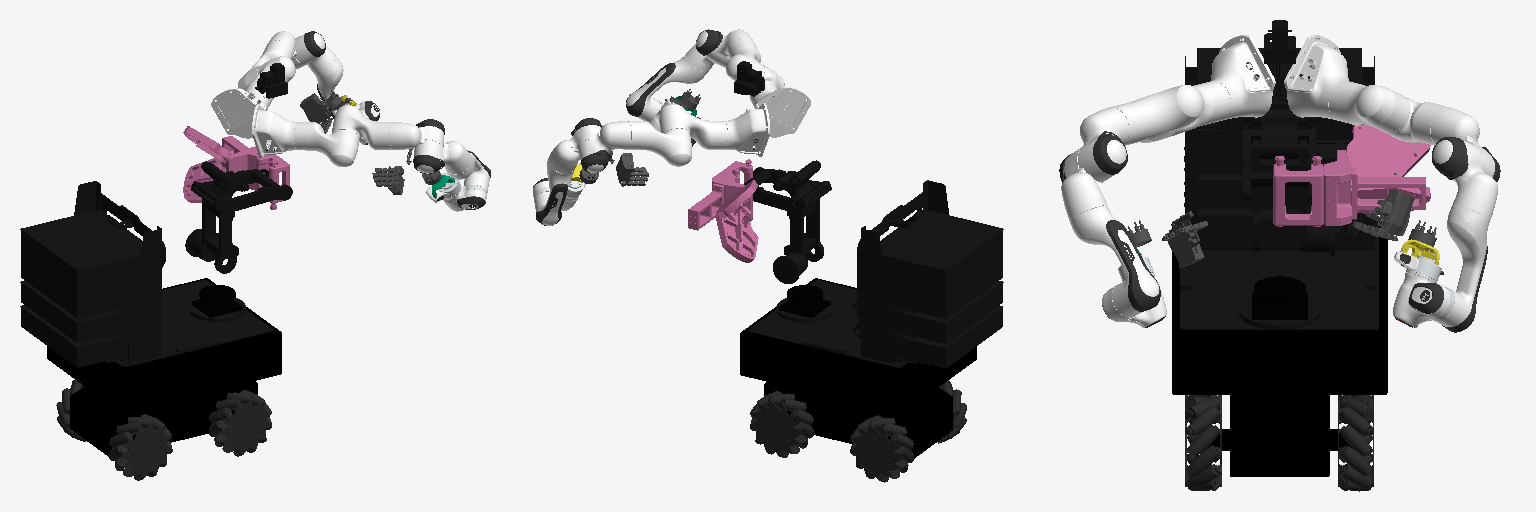
--- What the picture shows (computed from the rendered views, not written in the file) ---
Views: 3 orthographic renders of the robot side by side, from view 1: azimuth 30°, elevation 25°; view 2: azimuth 150°, elevation 25°; view 3: azimuth 270°, elevation 25°.
Model curi with 112 links and 111 joints (80 revolute, 31 fixed), rooted at world, posed all joints at 0 but 2 set to mid-range because 0 is outside their limits (panda_left_joint4 = -1.57, panda_right_joint4 = -1.57).
Visible links, largest first — view 1: control_box, summit_xls_base_link, torso_end, summit_xls_back_right_wheel_link, summit_xls_front_right_wheel_link, torso_link_b2, torso_link_c1, panda_right_link1, panda_left_link0, panda_right_link0, panda_right_link4, panda_right_link2 (+11 smaller); view 2: control_box, summit_xls_base_link, torso_end, summit_xls_back_left_wheel_link, summit_xls_front_left_wheel_link, torso_link_b2, panda_right_link5, panda_left_link2, panda_right_link0, panda_left_link1, panda_left_link0, panda_left_link3 (+8 smaller); view 3: control_box, summit_xls_base_link, torso_end, panda_right_link5, panda_right_link0, panda_left_link0, panda_left_link5, summit_xls_front_right_wheel_link, panda_right_link2, panda_left_link4, summit_xls_front_left_wheel_link, panda_left_link1 (+15 smaller).
Boxes of the visible links, left/top/right/bottom form: control_box: left=20, top=181, right=272, bottom=367; summit_xls_base_link: left=47, top=278, right=281, bottom=456; torso_end: left=183, top=126, right=289, bottom=209; summit_xls_back_right_wheel_link: left=109, top=414, right=172, bottom=480; summit_xls_front_right_wheel_link: left=209, top=390, right=271, bottom=456; torso_link_b2: left=185, top=184, right=238, bottom=273; torso_link_c1: left=191, top=169, right=292, bottom=213; panda_right_link1: left=294, top=122, right=359, bottom=166; panda_left_link0: left=211, top=88, right=267, bottom=138; panda_right_link0: left=252, top=104, right=296, bottom=157; panda_right_link4: left=413, top=140, right=470, bottom=173; panda_right_link2: left=332, top=105, right=392, bottom=149; control_box: left=749, top=180, right=1003, bottom=368; summit_xls_base_link: left=740, top=278, right=976, bottom=458; torso_end: left=688, top=159, right=758, bottom=262; summit_xls_back_left_wheel_link: left=850, top=415, right=913, bottom=482; summit_xls_front_left_wheel_link: left=750, top=391, right=813, bottom=457; torso_link_b2: left=773, top=183, right=823, bottom=283; panda_right_link5: left=626, top=54, right=706, bottom=121; panda_left_link2: left=628, top=121, right=691, bottom=166; panda_right_link0: left=754, top=87, right=810, bottom=137; panda_left_link1: left=659, top=104, right=727, bottom=149; panda_left_link0: left=724, top=103, right=769, bottom=156; panda_left_link3: left=578, top=121, right=630, bottom=172; control_box: left=1180, top=48, right=1378, bottom=329; summit_xls_base_link: left=1172, top=221, right=1387, bottom=476; torso_end: left=1273, top=125, right=1430, bottom=226; panda_right_link5: left=1069, top=205, right=1160, bottom=316; panda_right_link0: left=1211, top=35, right=1275, bottom=119; panda_left_link0: left=1284, top=35, right=1348, bottom=119; panda_left_link5: left=1435, top=205, right=1489, bottom=332; summit_xls_front_right_wheel_link: left=1185, top=397, right=1221, bottom=490; panda_right_link2: left=1113, top=85, right=1203, bottom=145; panda_left_link4: left=1432, top=137, right=1497, bottom=219; summit_xls_front_left_wheel_link: left=1338, top=397, right=1373, bottom=491; panda_left_link1: left=1329, top=81, right=1409, bottom=132.
Bounding box of the posed robot: 1.76 × 1.18 × 1.51 m (x, y, z).
73 mesh visuals loaded from 32 distinct referenced files (9 binary STL, 20 Collada DAE); not drawn: 3 (reference not matched to a file when rendering).

robot.urdf — curi:
<?xml version="1.0" ?>
<!-- =================================================================================== -->
<!-- |    This document was autogenerated by xacro from ../robots/curi.urdf.xacro      | -->
<!-- |    EDITING THIS FILE BY HAND IS NOT RECOMMENDED                                 | -->
<!-- =================================================================================== -->
<robot name="curi">
  <!-- in kg-->
  <!-- =============================================================== -->
  <!-- || This file does not contain official inertial properties   || -->
  <!-- || of panda robot. The values are from the identification    || -->
  <!-- || results published in: Identification of the Franka Emika  || -->
  <!-- || PandaRobot With Retrieval of Feasible Parameters Using    || -->
  <!-- || Penalty-Based Optimization                                || -->
  <!-- || by: Claudio Gaz, Marco Cognetti, Alexander Oliva,         || -->
  <!-- || Paolo Robuffo Giordano, Alessandro de Luca                || -->
  <!-- =============================================================== -->
  <link name="world"/>
  <material name="qbhand/optional">
  <color rgba="0.0 0.5 0.8 1.0"/>
  </material>
  <material name="qbhand/base">
    <color rgba="0.35 0.35 0.35 1.0"/>
  </material>
  <material name="qbhand/palm">
    <color rgba="0.35 0.35 0.35 1.0"/>
  </material>
  <material name="qbhand/knuckle">
    <color rgba="0.35 0.35 0.35 1.0"/>
  </material>
  <material name="qbhand/proximal">
    <color rgba="0.35 0.35 0.35 1.0"/>
  </material>
  <material name="qbhand/middle">
    <color rgba="0.35 0.35 0.35 1.0"/>
  </material>
  <material name="qbhand/distal">
    <color rgba="0.35 0.35 0.35 1.0"/>
  </material>
  <material name="qbhand/default">
    <color rgba="0.35 0.35 0.35 1.0"/>
  </material>
  <joint name="reference" type="fixed">
    <parent link="world"/>
    <child link="summit_xls_base_footprint"/>
  </joint>
  <link name="summit_xls_base_footprint">
    <visual>
      <origin rpy="0 0 0" xyz="0 0 0"/>
      <geometry>
        <box size="0.001 0.001 0.001"/>
      </geometry>
    </visual>
  </link>
  <joint name="summit_xls_base_footprint_joint" type="fixed">
    <origin rpy="0 0 0" xyz="0 0 0.127"/>
    <parent link="summit_xls_base_footprint"/>
    <child link="summit_xls_base_link"/>
  </joint>
  <!-- BASE_LINK -->
  <link name="summit_xls_base_link">
    <inertial>
      <mass value="125.0"/>
      <origin xyz="0 0 0"/>
      <inertia ixx="1.391" ixy="0.004" ixz="0.0" iyy="6.853" iyz="0.0" izz="6.125"/>
    </inertial>
    <visual>
      <origin rpy="0 0 0" xyz="0 0 0"/>
      <geometry>
        <mesh filename="../meshes/robotnik/bases/summit_xls_chassis.dae"/>
      </geometry>
      <material name="black">
        <color rgba="0.0 0.0 0.0 1"/>
      </material>
    </visual>
    <collision>
      <origin rpy="0 0 0 " xyz="0 0 0"/>
      <geometry>
        <mesh filename="../meshes/robotnik/bases/summit_xls_chassis.stl"/>
      </geometry>
    </collision>
  </link>
  <joint name="summit_xls_front_right_wheel_joint" type="fixed">
    <parent link="summit_xls_base_link"/>
    <child link="summit_xls_front_right_wheel_link"/>
    <origin rpy="0 0 0" xyz="0.2225 -0.2045 0.0"/>
    <axis rpy="0 0 0" xyz="0 1 0"/>
    <limit effort="100" velocity="100"/>
    <joint_properties damping="0.0" friction="0.0"/>
  </joint>
  <link name="summit_xls_front_right_wheel_link">
    <visual>
      <origin rpy="0 0 0" xyz="0 0 0"/>
      <geometry>
        <mesh filename="../meshes/robotnik/wheels/omni_wheel_2.dae"/>
      </geometry>
      <material name="darkgrey">
        <color rgba="0.2 0.2 0.2 1"/>
      </material>
    </visual>
    <collision>
      <origin rpy="1.5707963267948966 0 0" xyz="0 0 0"/>
      <geometry>
        <cylinder length="0.087" radius="0.127"/>
      </geometry>
    </collision>
    <inertial>
      <mass value="6.5"/>
      <origin xyz="0 0 0"/>
      <inertia ixx="0.0303095" ixy="0" ixz="0" iyy="0.05241925" iyz="0" izz="0.0303095"/>
    </inertial>
  </link>
  <joint name="summit_xls_front_left_wheel_joint" type="fixed">
    <parent link="summit_xls_base_link"/>
    <child link="summit_xls_front_left_wheel_link"/>
    <origin rpy="0 0 0" xyz="0.2225 0.2045 0.0"/>
    <axis rpy="0 0 0" xyz="0 1 0"/>
    <limit effort="100" velocity="100"/>
    <joint_properties damping="0.0" friction="0.0"/>
  </joint>
  <link name="summit_xls_front_left_wheel_link">
    <visual>
      <origin rpy="0 0 0" xyz="0 0 0"/>
      <geometry>
        <mesh filename="../meshes/robotnik/wheels/omni_wheel_1.dae"/>
      </geometry>
      <material name="darkgrey">
        <color rgba="0.2 0.2 0.2 1"/>
      </material>
    </visual>
    <collision>
      <origin rpy="1.5707963267948966 0 0" xyz="0 0 0"/>
      <geometry>
        <cylinder length="0.087" radius="0.127"/>
      </geometry>
    </collision>
    <inertial>
      <mass value="6.5"/>
      <origin xyz="0 0 0"/>
      <inertia ixx="0.0303095" ixy="0" ixz="0" iyy="0.05241925" iyz="0" izz="0.0303095"/>
    </inertial>
  </link>
  <joint name="summit_xls_back_left_wheel_joint" type="fixed">
    <parent link="summit_xls_base_link"/>
    <child link="summit_xls_back_left_wheel_link"/>
    <origin rpy="0 0 0" xyz="-0.2225 0.2045 0.0"/>
    <axis rpy="0 0 0" xyz="0 1 0"/>
    <limit effort="100" velocity="100"/>
    <joint_properties damping="0.0" friction="0.0"/>
  </joint>
  <link name="summit_xls_back_left_wheel_link">
    <visual>
      <origin rpy="0 0 0" xyz="0 0 0"/>
      <geometry>
        <mesh filename="../meshes/robotnik/wheels/omni_wheel_1.dae"/>
      </geometry>
      <material name="darkgrey">
        <color rgba="0.2 0.2 0.2 1"/>
      </material>
    </visual>
    <collision>
      <origin rpy="1.5707963267948966 0 0" xyz="0 0 0"/>
      <geometry>
        <cylinder length="0.087" radius="0.127"/>
      </geometry>
    </collision>
    <inertial>
      <mass value="6.5"/>
      <origin xyz="0 0 0"/>
      <inertia ixx="0.0303095" ixy="0" ixz="0" iyy="0.05241925" iyz="0" izz="0.0303095"/>
    </inertial>
  </link>
  <joint name="summit_xls_back_right_wheel_joint" type="fixed">
    <parent link="summit_xls_base_link"/>
    <child link="summit_xls_back_right_wheel_link"/>
    <origin rpy="0 0 0" xyz="-0.2225 -0.2045 0.0"/>
    <axis rpy="0 0 0" xyz="0 1 0"/>
    <limit effort="100" velocity="100"/>
    <joint_properties damping="0.0" friction="0.0"/>
  </joint>
  <link name="summit_xls_back_right_wheel_link">
    <visual>
      <origin rpy="0 0 0" xyz="0 0 0"/>
      <geometry>
        <mesh filename="../meshes/robotnik/wheels/omni_wheel_2.dae"/>
      </geometry>
      <material name="darkgrey">
        <color rgba="0.2 0.2 0.2 1"/>
      </material>
    </visual>
    <collision>
      <origin rpy="1.5707963267948966 0 0" xyz="0 0 0"/>
      <geometry>
        <cylinder length="0.087" radius="0.127"/>
      </geometry>
    </collision>
    <inertial>
      <mass value="6.5"/>
      <origin xyz="0 0 0"/>
      <inertia ixx="0.0303095" ixy="0" ixz="0" iyy="0.05241925" iyz="0" izz="0.0303095"/>
    </inertial>
  </link>
  <joint name="torso_joint_summit_xls_base_footprint" type="fixed">
    <parent link="summit_xls_base_footprint"/>
    <child link="control_box"/>
    <origin rpy="0 0 0" xyz="0 0 0.52262"/>
  </joint>
  <link name="control_box">
    <visual>
      <origin rpy="0 0 0" xyz="0 0 0"/>
      <geometry>
        <mesh filename="../meshes/clover/visual/control_box.dae"/>
      </geometry>
    </visual>
    <inertial>
      <!-- Estimated guesses from CAD -->
      <origin rpy="0 0 0" xyz="-0.221652 1.4173e-02 0.165597"/>
      <mass value="37.813"/>
      <inertia ixx="1.672305973" ixy="-0.023504956" ixz="-0.565170381" iyy="2.616747309" iyz="0.046623093" izz="2.524344244"/>
    </inertial>
  </link>
  <link name="torso_base1">
    <visual>
      <origin rpy="0 0 0" xyz="0 0 0"/>
      <geometry>
        <mesh filename="../meshes/clover/visual/torso_base1.dae"/>
      </geometry>
    </visual>
    <collision>
      <origin rpy="0 0 0" xyz="0 0 0"/>
      <geometry>
        <mesh filename="../meshes/clover/collision/torso_base1.stl"/>
      </geometry>
    </collision>
    <inertial>
      <origin rpy="0 0 0" xyz="0 0 0.02555"/>
      <mass value="1.18"/>
      <inertia ixx="0.00241116" ixy="0" ixz="0" iyy="0.00241116" iyz="0" izz="0.00362611"/>
    </inertial>
  </link>
  <joint name="torso_joint1" type="fixed">
    <origin rpy="0 0 0" xyz="0.2375 0 0.015"/>
    <parent link="control_box"/>
    <child link="torso_base1"/>
  </joint>
  <link name="torso_base2">
    <visual>
      <origin rpy="0 0 0" xyz="0 0 0"/>
      <geometry>
        <mesh filename="../meshes/clover/visual/torso_base2.dae"/>
      </geometry>
    </visual>
    <collision>
      <origin rpy="0 0 0" xyz="0 0 0"/>
      <geometry>
        <mesh filename="../meshes/clover/collision/torso_base2.stl"/>
      </geometry>
    </collision>
    <inertial>
      <origin rpy="0 0 0" xyz="-0.05478 0.03332 -0.07616"/>
      <mass value="35.66"/>
      <inertia ixx="0.87275935" ixy="-0.06173772" ixz="0.01895727" iyy="0.57302356" iyz="0.11888755" izz="1.06212354"/>
    </inertial>
  </link>
  <joint name="torso_actuated_joint1" type="fixed">
    <safety_controller k_position="100.0" k_velocity="40.0" soft_lower_limit="-1.5" soft_upper_limit="1.5"/>
    <origin rpy="0 0 0" xyz="0 0 0.215"/>
    <parent link="torso_base1"/>
    <child link="torso_base2"/>
    <axis xyz="0 0 1"/>
    <limit acceleration="0.6" effort="300" lower="-1.57" upper="1.57" velocity="0.3"/>
    <dynamics D="1" K="7000" damping="0.003" friction="0.0" mu_coulomb="0" mu_viscous="16"/>
  </joint>
  <link name="torso_link_b2">
    <visual>
      <origin rpy="0 0 0" xyz="0 0 0"/>
      <geometry>
        <mesh filename="../meshes/clover/visual/torso_link_b2.dae"/>
      </geometry>
    </visual>
    <collision>
      <origin rpy="0 0 0" xyz="0 0 0"/>
      <geometry>
        <mesh filename="../meshes/clover/collision/torso_link_b2.stl"/>
      </geometry>
    </collision>
    <inertial>
      <origin rpy="0 0 0" xyz="2.066e-03 2.4036e-02 8.3361e-02"/>
      <mass value="2.698"/>
      <inertia ixx="0.035907338" ixy="-0.000134319" ixz="0.000037769" iyy="0.023944853" iyz="-0.005304362" izz="0.014484777"/>
    </inertial>
  </link>
  <joint name="torso_actuated_joint2" type="fixed">
    <origin rpy="0 0 0" xyz="0 0 0"/>
    <parent link="torso_base2"/>
    <child link="torso_link_b2"/>
    <axis xyz="0 1 0"/>
    <limit acceleration="0.6" effort="300" lower="-1.2" upper="0.5" velocity="0.3"/>
    <dynamics D="1" K="7000" damping="0.003" friction="0.0" mu_coulomb="0" mu_viscous="16"/>
  </joint>
  <link name="torso_middle">
    <visual>
      <origin rpy="0 0 0" xyz="0 0 0"/>
      <geometry>
        <mesh filename="../meshes/clover/visual/torso_middle.dae"/>
      </geometry>
    </visual>
    <collision>
      <origin rpy="0 0 0" xyz="0 0 0"/>
      <geometry>
        <mesh filename="../meshes/clover/collision/torso_middle.stl"/>
      </geometry>
    </collision>
    <inertial>
      <origin rpy="0 0 0" xyz="3.2089e-02 0 4.789e-02"/>
      <mass value="2.688"/>
      <inertia ixx="0.00744652" ixy="-0.00003495" ixz="0.000230038" iyy="0.006884728" iyz="0.000041279" izz="0.008084049"/>
    </inertial>
  </link>
  <joint name="torso_joint5" type="fixed">
    <origin rpy="0 0 0" xyz="0 0 0.25"/>
    <parent link="torso_link_b2"/>
    <child link="torso_middle"/>
    <axis xyz="0 1 0"/>
    <limit acceleration="0.6" effort="300" lower="-0.5" upper="1.2" velocity="0.3"/>
    <dynamics D="1" K="7000" damping="0.003" friction="0.0" mu_coulomb="0" mu_viscous="16"/>
    <mimic joint="torso_actuated_joint2" multiplier="-1"/>
  </joint>
  <link name="torso_link_c1">
    <visual>
      <origin rpy="0 0 0" xyz="0 0 0"/>
      <geometry>
        <mesh filename="../meshes/clover/visual/torso_link_c1.dae"/>
      </geometry>
    </visual>
    <collision>
      <origin rpy="0 0 0" xyz="0 0 0"/>
      <geometry>
        <mesh filename="../meshes/clover/collision/torso_link_c1.stl"/>
      </geometry>
    </collision>
    <inertial>
      <origin rpy="0 0 0" xyz="0.10533 1.503e-03 9.863e-03"/>
      <mass value="2.4"/>
      <inertia ixx="0.014986407" ixy="-1.7102e-05" ixz="-4.53321e-04" iyy="0.027549549" iyz="-3.557e-05" izz="0.041344611"/>
    </inertial>
  </link>
  <joint name="torso_actuated_joint3" type="fixed">
    <origin rpy="0 0 0" xyz="0 0 0"/>
    <parent link="torso_middle"/>
    <child link="torso_link_c1"/>
  </joint>
  <link name="shell">
    <visual>
      <origin rpy="0 0 0" xyz="0 0 0"/>
      <geometry>
        <mesh filename="../meshes/clover/visual/Shell_v2_Share_yup.dae"/>
      </geometry>
    <material name="shell">
        <color rgba="1 1 1. 1.0"/>
      </material>
    </visual>
    <collision>
      <origin rpy="0 0 0" xyz="0 0 0"/>
      <geometry>
        <mesh filename="../meshes/clover/collision/Shell_v2_Share_zup.STL"/>
      </geometry>
    </collision>
    <inertial>
      <origin rpy="0 0 0" xyz="0.120384 0.569e-03 6.703e-03"/>
      <mass value="1.63531"/>
      <inertia ixx="0.010693997" ixy="5.645e-06" ixz="-9.4779e-04" iyy="0.026717753" iyz="-8.196e-06" izz="0.036543169"/>
    </inertial>
  </link>
  <joint name="shell_torso_end" type="fixed">
    <parent link="torso_end"/>
    <child link="shell"/>
    <origin rpy="0 0 0" xyz="0 0 0"/>
  </joint>
  <link name="torso_end">
    <visual>
      <origin rpy="0 0 0" xyz="0 0 0"/>
      <geometry>
        <mesh filename="../meshes/clover/visual/torso_end_v2_yup.dae"/>
      </geometry>
    </visual>
    <collision>
      <origin rpy="0 0 0" xyz="0 0 0"/>
      <geometry>
        <mesh filename="../meshes/clover/collision/torso_end_v2.stl"/>
      </geometry>
    </collision>
    <inertial>
      <origin rpy="0 0 0" xyz="-5.05e-03 -0.09e-03 0.27614"/>
      <mass value="1.63531"/>
      <inertia ixx="0.010693997" ixy="5.645e-06" ixz="-9.4779e-04" iyy="0.026717753" iyz="-8.196e-06" izz="0.036543169"/>
    </inertial>
  </link>
  <joint name="torso_joint8" type="fixed">
    <origin rpy="0 0 0" xyz="0.25 0 0"/>
    <parent link="torso_link_c1"/>
    <child link="torso_end"/>
  </joint>
  <joint name="head_joint_torso_end" type="fixed">
    <parent link="torso_end"/>
    <child link="head_base"/>
    <origin rpy="0 0 0" xyz="0.02 0 0.3929"/>
  </joint>
  <link name="head_base">
    <visual>
      <origin rpy="0 0 0" xyz="0 0 0"/>
      <geometry>
        <mesh filename="../meshes/clover/visual/head_base.dae"/>
      </geometry>
    </visual>
    <collision>
      <origin rpy="0 0 0" xyz="0 0 0"/>
      <geometry>
        <mesh filename="../meshes/clover/collision/head_base.stl"/>
      </geometry>
    </collision>
    <inertial>
      <!-- Estimated guesses from CAD -->
      <origin rpy="0 0 0" xyz="-1.9726e-02 1.281e-03 2.2693e-02"/>
      <mass value="0.803"/>
      <inertia ixx="6.56432e-04" ixy="-3.4976e-05" ixz="0.652e-6" iyy="6.42664e-04" iyz="-1.577e-06" izz="1.046862e-03"/>
    </inertial>
  </link>
  <joint name="head_actuated_joint1" type="fixed">
    <safety_controller k_position="100.0" k_velocity="40.0" soft_lower_limit="-1.5" soft_upper_limit="1.5"/>
    <origin rpy="0 0 0" xyz="0 0 0.045"/>
    <parent link="head_base"/>
    <child link="head_link1"/>
    <axis xyz="0 0 1"/>
    <limit effort="30" lower="-1.57" upper="1.57" velocity="1.0"/>
    <dynamics D="1" K="7000" damping="0.003" friction="0.0" mu_coulomb="0" mu_viscous="16"/>
  </joint>
  <link name="head_link1">
    <visual>
      <origin rpy="0 0 0" xyz="0 0 0"/>
      <geometry>
        <mesh filename="../meshes/clover/visual/head_link1.dae"/>
      </geometry>
    </visual>
    <collision>
      <origin rpy="0 0 0" xyz="0 0 0"/>
      <geometry>
        <mesh filename="../meshes/clover/collision/head_link1.stl"/>
      </geometry>
    </collision>
    <inertial>
      <!-- Estimated guesses from CAD -->
      <origin rpy="0 0 0" xyz="-1.8392e-02 -0.4e-03 2.8338e-02"/>
      <mass value="0.534"/>
      <inertia ixx="2.34142e-04" ixy="-3.129e-06" ixz="6.321e-05" iyy="5.09246e-04" iyz="1.49e-06" izz="4.3777e-04"/>
    </inertial>
  </link>
  <joint name="head_actuated_joint2" type="fixed">
    <safety_controller k_position="100.0" k_velocity="40.0" soft_lower_limit="-0.8" soft_upper_limit="0.5"/>
    <origin rpy="0 0 0" xyz="0 0 0.043"/>
    <parent link="head_link1"/>
    <child link="head_link2"/>
    <axis xyz="0 1 0"/>
    <limit effort="30" lower="-0.82" upper="0.52" velocity="1.0"/>
    <dynamics D="1" K="7000" damping="0.003" friction="0.0" mu_coulomb="0" mu_viscous="16"/>
  </joint>
  <link name="head_link2">
    <visual>
      <origin rpy="0 0 0" xyz="0 0 0"/>
      <geometry>
        <mesh filename="../meshes/clover/visual/head_link2.dae"/>
      </geometry>
    </visual>
    <collision>
      <origin rpy="0 0 0" xyz="0 0 0"/>
      <geometry>
        <mesh filename="../meshes/clover/collision/head_link2.stl"/>
      </geometry>
    </collision>
    <inertial>
      <!-- Estimated guesses from CAD -->
      <origin rpy="0 0 0" xyz="3.8624e-02 0 0.143829"/>
      <mass value="1.346"/>
      <inertia ixx="0.010306864" ixy="-5.953e-06" ixz="6.74795e-04" iyy="0.011632066" iyz="-1.125e-06" izz="0.009582498"/>
    </inertial>
  </link>
  <joint name="panda_left_joint_torso_end" type="fixed">
    <parent link="torso_end"/>
    <child link="panda_left_link0"/>
    <origin rpy="-1.3685238493647454 0.913218224774749 -0.6168337646727412" xyz="-0.08537 0.07009 0.2535"/>
  </joint>
  <link name="panda_left_link0">
    <visual>
      <origin rpy="0 0 0" xyz="0 0 0"/>
      <geometry>
        <mesh filename="../meshes/franka/visual/link0.dae"/>
      </geometry>
    </visual>
    <collision>
      <origin rpy="0 0 0" xyz="0 0 0"/>
      <geometry>
        <mesh filename="../meshes/franka/collision/link0.stl"/>
      </geometry>
    </collision>
    <inertial>
      <!-- Estimated guesses from CAD -->
      <origin rpy="0 0 0" xyz="-0.041018 -0.00014 0.049974"/>
      <mass value="0.629769"/>
      <inertia ixx="0.00315" ixy="8.2904E-07" ixz="0.00015" iyy="0.00388" iyz="8.2299E-06" izz="0.004285"/>
    </inertial>
  </link>
  <link name="panda_left_link1">
    <visual>
      <origin rpy="0 0 0" xyz="0 0 0"/>
      <geometry>
        <mesh filename="../meshes/franka/visual/link1.dae"/>
      </geometry>
    </visual>
    <collision>
      <origin rpy="0 0 0" xyz="0 0 0"/>
      <geometry>
        <mesh filename="../meshes/franka/collision/link1.stl"/>
      </geometry>
    </collision>
    <inertial>
      <origin rpy="0 0 0" xyz="0.003875 0.002081 -0.04762"/>
      <mass value="4.970684"/>
      <inertia ixx="0.70337" ixy="-0.00013900" ixz="0.0067720" iyy="0.70661" iyz="0.019169" izz="0.0091170"/>
    </inertial>
  </link>
  <joint name="panda_left_joint1" type="revolute">
    <safety_controller k_position="100.0" k_velocity="40.0" soft_lower_limit="-2.8973" soft_upper_limit="2.8973"/>
    <origin rpy="0 0 0" xyz="0 0 0.333"/>
    <parent link="panda_left_link0"/>
    <child link="panda_left_link1"/>
    <axis xyz="0 0 1"/>
    <limit acceleration="15" effort="87" lower="-2.8973" upper="2.8973" velocity="2.1750"/>
    <dynamics D="1" K="7000" damping="0.003" friction="0.0" mu_coulomb="0" mu_viscous="16"/>
  </joint>
  <link name="panda_left_link2">
    <visual>
      <origin rpy="0 0 0" xyz="0 0 0"/>
      <geometry>
        <mesh filename="../meshes/franka/visual/link2.dae"/>
      </geometry>
    </visual>
    <collision>
      <origin rpy="0 0 0" xyz="0 0 0"/>
      <geometry>
        <mesh filename="../meshes/franka/collision/link2.stl"/>
      </geometry>
    </collision>
    <inertial>
      <origin rpy="0 0 0" xyz=" -0.003141 -0.02872  0.003495"/>
      <mass value="0.646926"/>
      <inertia ixx="0.0079620" ixy="-3.9250e-3" ixz="1.0254e-02" iyy="2.8110e-02" iyz="7.0400e-04" izz="2.5995e-02"/>
    </inertial>
  </link>
  <joint name="panda_left_joint2" type="revolute">
    <safety_controller k_position="100.0" k_velocity="40.0" soft_lower_limit="-1.7628" soft_upper_limit="1.7628"/>
    <origin rpy="-1.5707963267948966 0 0" xyz="0 0 0"/>
    <parent link="panda_left_link1"/>
    <child link="panda_left_link2"/>
    <axis xyz="0 0 1"/>
    <limit acceleration="7.5" effort="87" lower="-1.7628" upper="1.7628" velocity="2.1750"/>
    <dynamics D="1" K="7000" damping="0.003" friction="0.0" mu_coulomb="0" mu_viscous="16"/>
  </joint>
  <link name="panda_left_link3">
    <visual>
      <origin rpy="0 0 0" xyz="0 0 0"/>
      <geometry>
        <mesh filename="../meshes/franka/visual/link3.dae"/>
      </geometry>
    </visual>
    <collision>
      <origin rpy="0 0 0" xyz="0 0 0"/>
      <geometry>
        <mesh filename="../meshes/franka/collision/link3.stl"/>
      </geometry>
    </collision>
    <inertial>
      <origin rpy="0 0 0" xyz="2.7518e-02 3.9252e-02 -6.6502e-02"/>
      <mass value="3.228604"/>
      <inertia ixx="3.7242e-02" ixy="-4.7610e-03" ixz="-1.1396e-02" iyy="3.6155e-02" iyz="-1.2805e-02" izz="1.0830e-02"/>
    </inertial>
  </link>
  <joint name="panda_left_joint3" type="revolute">
    <safety_controller k_position="100.0" k_velocity="40.0" soft_lower_limit="-2.8973" soft_upper_limit="2.8973"/>
    <origin rpy="1.5707963267948966 0 0" xyz="0 -0.316 0"/>
    <parent link="panda_left_link2"/>
    <child link="panda_left_link3"/>
    <axis xyz="0 0 1"/>
    <limit acceleration="12.5" effort="87" lower="-2.8973" upper="2.8973" velocity="2.1750"/>
    <dynamics D="1" K="7000" damping="0.003" friction="0.0" mu_coulomb="0" mu_viscous="16"/>
  </joint>
  <link name="panda_left_link4">
    <visual>
      <origin rpy="0 0 0" xyz="0 0 0"/>
      <geometry>
        <mesh filename="../meshes/franka/visual/link4.dae"/>
      </geometry>
    </visual>
    <collision>
      <origin rpy="0 0 0" xyz="0 0 0"/>
      <geometry>
        <mesh filename="../meshes/franka/collision/link4.stl"/>
      </geometry>
    </collision>
    <inertial>
      <origin rpy="0 0 0" xyz="-5.317e-02 1.04419e-01 2.7454e-02"/>
      <mass value="3.587895"/>
      <inertia ixx="2.5853e-02" ixy="7.7960e-03" ixz="-1.3320e-03" iyy="1.9552e-02" iyz="8.6410e-03" izz="2.8323e-02"/>
    </inertial>
  </link>
  <joint name="panda_left_joint4" type="revolute">
    <safety_controller k_position="100.0" k_velocity="40.0" soft_lower_limit="-3.0718" soft_upper_limit="-0.0698"/>
    <origin rpy="1.5707963267948966 0 0" xyz="0.0825 0 0"/>
    <parent link="panda_left_link3"/>
    <child link="panda_left_link4"/>
    <axis xyz="0 0 1"/>
    <limit acceleration="12.5" effort="87" lower="-3.0718" upper="-0.0698" velocity="2.1750"/>
    <dynamics D="1" K="7000" damping="0.003" friction="0.0" mu_coulomb="0" mu_viscous="16"/>
  </joint>
  <link name="panda_left_link5">
    <visual>
      <origin rpy="0 0 0" xyz="0 0 0"/>
      <geometry>
        <mesh filename="../meshes/franka/visual/link5.dae"/>
      </geometry>
    </visual>
    <collision>
      <origin rpy="0 0 0" xyz="0 0 0"/>
      <geometry>
        <mesh filename="../meshes/franka/collision/link5.stl"/>
      </geometry>
    </collision>
    <inertial>
      <origin rpy="0 0 0" xyz="-1.1953e-02 4.1065e-02 -3.8437e-02"/>
      <mass value="1.225946"/>
      <inertia ixx="3.5549e-02" ixy="-2.1170e-03" ixz="-4.0370e-03" iyy="2.9474e-02" iyz="2.2900e-04" izz="8.6270e-03"/>
    </inertial>
  </link>
  <joint name="panda_left_joint5" type="revolute">
    <safety_controller k_position="100.0" k_velocity="40.0" soft_lower_limit="-2.8973" soft_upper_limit="2.8973"/>
    <origin rpy="-1.5707963267948966 0 0" xyz="-0.0825 0.384 0"/>
    <parent link="panda_left_link4"/>
    <child link="panda_left_link5"/>
    <axis xyz="0 0 1"/>
    <limit acceleration="15" effort="12" lower="-2.8973" upper="2.8973" velocity="2.6100"/>
    <dynamics D="1" K="7000" damping="0.003" friction="0.0" mu_coulomb="0" mu_viscous="16"/>
  </joint>
  <link name="panda_left_link6">
    <visual>
      <origin rpy="0 0 0" xyz="0 0 0"/>
      <geometry>
        <mesh filename="../meshes/franka/visual/link6.dae"/>
      </geometry>
    </visual>
    <collision>
      <origin rpy="0 0 0" xyz="0 0 0"/>
      <geometry>
        <mesh filename="../meshes/franka/collision/link6.stl"/>
      </geometry>
    </collision>
    <inertial>
      <origin rpy="0 0 0" xyz="6.0149e-02 -1.4117e-02 -1.0517e-02"/>
      <mass value="1.666555"/>
      <inertia ixx="1.9640e-03" ixy="1.0900e-04" ixz="-1.1580e-03" iyy="4.3540e-03" iyz="3.4100e-04" izz="5.4330e-03"/>
    </inertial>
  </link>
  <joint name="panda_left_joint6" type="revolute">
    <safety_controller k_position="100.0" k_velocity="40.0" soft_lower_limit="-0.0175" soft_upper_limit="3.7525"/>
    <origin rpy="1.5707963267948966 0 0" xyz="0 0 0"/>
    <parent link="panda_left_link5"/>
    <child link="panda_left_link6"/>
    <axis xyz="0 0 1"/>
    <limit acceleration="20" effort="12" lower="-0.0175" upper="3.7525" velocity="2.6100"/>
    <dynamics D="1" K="7000" damping="0.003" friction="0.0" mu_coulomb="0" mu_viscous="16"/>
  </joint>
  <link name="panda_left_link7">
    <visual>
      <origin rpy="0 0 0" xyz="0 0 0"/>
      <geometry>
        <mesh filename="../meshes/franka/visual/link7.dae"/>
      </geometry>
    </visual>
    <collision>
      <origin rpy="0 0 0" xyz="0 0 0"/>
      <geometry>
        <mesh filename="../meshes/franka/collision/link7.stl"/>
      </geometry>
    </collision>
    <inertial>
      <origin rpy="0 0 0" xyz="1.0517e-02 -4.252e-03 6.1597e-02"/>
      <mass value="7.35522e-01"/>
      <inertia ixx="1.2516e-02" ixy="-4.2800e-04" ixz="-1.1960e-03" iyy="1.0027e-02" iyz="-7.4100e-04" izz="4.8150e-03"/>
    </inertial>
  </link>
  <joint name="panda_left_joint7" type="revolute">
    <safety_controller k_position="100.0" k_velocity="40.0" soft_lower_limit="-2.8973" soft_upper_limit="2.8973"/>
    <origin rpy="1.5707963267948966 0 0" xyz="0.088 0 0"/>
    <parent link="panda_left_link6"/>
    <child link="panda_left_link7"/>
    <axis xyz="0 0 1"/>
    <limit acceleration="20" effort="12" lower="-2.8973" upper="2.8973" velocity="2.6100"/>
    <dynamics D="1" K="7000" damping="0.003" friction="0.0" mu_coulomb="0" mu_viscous="16"/>
  </joint>
  <joint name="panda_left_end_effector_joint" type="fixed">
    <parent link="panda_left_link7"/>
    <child link="left_hand_root_link"/>
    <origin rpy="0 0 -0.7853981633974483" xyz="0 0 0.107"/>
  </joint>
  <link name="left_hand_root_link"/>
  <joint name="left_qbhand_flange_joint" type="fixed">
    <origin rpy="0 0 0.7854" xyz="0 0 0"/>
    <parent link="left_hand_root_link"/>
    <child link="flange90_l"/>
  </joint>
  <link name="flange90_l">
    <visual>
      <origin rpy="0 0 0" xyz="0 0 0"/>
      <geometry>
        <mesh filename="../meshes/clover/visual/flange90_yup.dae"/>
      </geometry>
    </visual>
    <collision>
      <origin rpy="0 0 0" xyz="0 0 0"/>
      <geometry>
        <mesh filename="../meshes/clover/collision/flange90_zup.STL"/>
      </geometry>
    </collision>
  </link>
  <joint name="left_qbhand_base_fixed_joint" type="fixed">
    <origin rpy="1.5708 0 1.5708" xyz="0.046 0 0.038"/>
    <parent link="flange90_l"/>
    <child link="left_qbhand_base_link"/>
  </joint>
  <link name="left_qbhand_base_link">
    <inertial>
      <mass value="0.205"/>
      <origin rpy="0 0 0" xyz="0.0 7.8738498e-04 1.5878899e-02"/>
      <inertia ixx="0.00012506929" ixy="0.0" ixz="0.0" iyy="0.0001338779" iyz="0.0" izz="0.00019218394"/>
    </inertial>
    <visual>
      <origin rpy="0 0 0" xyz="0 0 0"/>
      <geometry>
        <mesh filename="../meshes/qbhand/flange_iso_04_yupzfront.STL" scale="1 1 1"/>
      </geometry>
      <material name="qbhand/base">
        <color rgba="0.35 0.35 0.35 1.0"/>
      </material>
    </visual>
    <collision>
      <origin rpy="0 0 0" xyz="0 0 0"/>
      <geometry>
        <mesh filename="../meshes/qbhand/flange_iso_04.stl" scale="0.001 0.001 0.001"/>
      </geometry>
    </collision>
  </link>
  <joint name="left_qbhand_palm_fixed_joint" type="fixed">
    <origin rpy="1.57 0 3.14" xyz="0.0045 0.0145 0.144"/>
    <parent link="left_qbhand_base_link"/>
    <child link="left_qbhand_palm_link"/>
  </joint>
  <link name="left_qbhand_palm_link">
    <inertial>
      <mass value="0.45"/>
      <origin rpy="0 0 0" xyz="0.0030 -0.0449 -0.0135"/>
      <inertia ixx="0.00045" ixy="0.0" ixz="0.0" iyy="0.0006" iyz="0.0" izz="0.00025"/>
    </inertial>
    <visual>
      <origin rpy="0 0 0" xyz="0 0 0"/>
      <geometry>
        <mesh filename="../meshes/qbhand/palm_pinch_l_yupzfront1.STL" scale="1000 1000 1000"/>
      </geometry>
      <material name="qbhand/palm">
        <color rgba="0.35 0.35 0.35 1.0"/>
      </material>
    </visual>
    <collision>
      <origin rpy="0 0 0" xyz="0 0 0"/>
      <geometry>
        <mesh filename="../meshes/qbhand/palm_pinch_l.stl" scale="0.001 0.001 0.001"/>
      </geometry>
    </collision>
  </link>
  <joint name="left_qbhand_synergy_joint" type="fixed">
    <origin rpy="0 0 0" xyz="0 0 0"/>
    <parent link="left_qbhand_palm_link"/>
    <child link="left_qbhand_synergy_tendon_virtual_link"/>
    <axis xyz="0 0 1"/>
    <dynamics damping="0.0" friction="0.0"/>
    <limit effort="100" lower="0.0" upper="1.0" velocity="100"/>
  </joint>
  <link name="left_qbhand_synergy_tendon_virtual_link">
    <inertial>
      <origin rpy="0 0 0" xyz="0 0 0"/>
      <mass value="1e-4"/>
      <inertia ixx="1e-9" ixy="0.0" ixz="0.0" iyy="1e-9" iyz="0.0" izz="1e-9"/>
    </inertial>
  </link>
  <joint name="left_qbhand_thumb_knuckle_joint" type="revolute">
    <origin rpy="-1.57 3.14 0.0" xyz="-0.044 -0.0465 0.002"/>
    <parent link="left_qbhand_palm_link"/>
    <child link="left_qbhand_thumb_knuckle_link"/>
    <axis xyz="0 0 1"/>
    <dynamics damping="0.0" friction="0.0"/>
    <limit effort="100" lower="0.0" upper="1.571" velocity="100"/>
    <mimic joint="left_qbhand_synergy_joint" multiplier="2.542"/>
  </joint>
  <link name="left_qbhand_thumb_knuckle_link">
    <inertial>
      <mass value="0.01"/>
      <origin rpy="0 0 0" xyz="1.3071561e-02 2.7346340e-03 6.4090487e-04"/>
      <inertia ixx="3.5827953e-07" ixy="-2.0934657e-07" ixz="-6.8435459e-08" iyy="1.3882698e-06" iyz="-3.2001578e-08" izz="1.3570267e-06"/>
    </inertial>
    <visual>
      <origin rpy="0 0 0" xyz="0 0 0"/>
      <geometry>
        <mesh filename="../meshes/qbhand/ph_thumb_l_yupzfront1.STL" scale="1 1 1"/>
      </geometry>
      <material name="qbhand/knuckle">
        <color rgba="0.35 0.35 0.35 1.0"/>
      </material>
    </visual>
    <collision>
      <origin rpy="0 0 0" xyz="0 0 0"/>
      <geometry>
        <mesh filename="../meshes/qbhand/ph_thumb_l_yupzfront1.STL" scale="1 1 1"/>
      </geometry>
    </collision>
  </link>
  <joint name="left_qbhand_thumb_proximal_joint" type="revolute">
    <origin rpy="-2.0 0.0 0.0" xyz="0.0255 0.0038 -0.00012"/>
    <parent link="left_qbhand_thumb_knuckle_link"/>
    <child link="left_qbhand_thumb_proximal_virtual_link"/>
    <axis xyz="0 0 -1"/>
    <dynamics damping="0.0" friction="0.0"/>
    <limit effort="100" lower="0.0" upper="0.785" velocity="100"/>
    <mimic joint="left_qbhand_synergy_joint" multiplier="0.785"/>
  </joint>
  <link name="left_qbhand_thumb_proximal_virtual_link">
    <inertial>
      <origin rpy="0 0 0" xyz="0 0 0"/>
      <mass value="1e-4"/>
      <inertia ixx="1e-9" ixy="0.0" ixz="0.0" iyy="1e-9" iyz="0.0" izz="1e-9"/>
    </inertial>
  </link>
  <joint name="left_qbhand_thumb_proximal_virtual_joint" type="revolute">
    <origin rpy="0 0 0" xyz="0.013 0 0"/>
    <parent link="left_qbhand_thumb_proximal_virtual_link"/>
    <child link="left_qbhand_thumb_proximal_link"/>
    <axis xyz="0 0 -1"/>
    <dynamics damping="0.0" friction="0.0"/>
    <limit effort="100" lower="0.0" upper="0.785" velocity="100"/>
    <mimic joint="left_qbhand_thumb_proximal_joint" multiplier="1.0"/>
  </joint>
  <link name="left_qbhand_thumb_proximal_link">
    <inertial>
      <mass value="0.0063"/>
      <origin rpy="0 0 0" xyz="4.7601567e-03 -1.3786947e-03 0.0"/>
      <inertia ixx="1.8024201e-07" ixy="5.756798e-09" ixz="0.0" iyy="2.3516266e-07" iyz="0.0" izz="2.691504e-07"/>
    </inertial>
    <visual>
      <origin rpy="0 0 0" xyz="0 0 0"/>
      <geometry>
        <mesh filename="../meshes/qbhand/ph_short_yupzfront1.STL" scale="1 1 1"/>
      </geometry>
      <material name="qbhand/proximal">
        <color rgba="0.35 0.35 0.35 1.0"/>
      </material>
    </visual>
    <collision>
      <origin rpy="0 0 0" xyz="0 0 0"/>
      <geometry>
        <mesh filename="../meshes/qbhand/ph_short_yupzfront1.STL" scale="1 1 1"/>
      </geometry>
    </collision>
  </link>
  <joint name="left_qbhand_thumb_distal_joint" type="revolute">
    <origin rpy="0 0 0" xyz="0.009 0 0"/>
    <parent link="left_qbhand_thumb_proximal_link"/>
    <child link="left_qbhand_thumb_distal_virtual_link"/>
    <axis xyz="0 0 -1"/>
    <dynamics damping="0.0" friction="0.0"/>
    <limit effort="100" lower="0.0" upper="0.785" velocity="100"/>
    <mimic joint="left_qbhand_synergy_joint" multiplier="0.785"/>
  </joint>
  <link name="left_qbhand_thumb_distal_virtual_link">
    <inertial>
      <origin rpy="0 0 0" xyz="0 0 0"/>
      <mass value="1e-4"/>
      <inertia ixx="1e-9" ixy="0.0" ixz="0.0" iyy="1e-9" iyz="0.0" izz="1e-9"/>
    </inertial>
  </link>
  <joint name="left_qbhand_thumb_distal_virtual_joint" type="revolute">
    <origin rpy="0 0 0" xyz="0.013 0 0"/>
    <parent link="left_qbhand_thumb_distal_virtual_link"/>
    <child link="left_qbhand_thumb_distal_link"/>
    <axis xyz="0 0 -1"/>
    <dynamics damping="0.0" friction="0.0"/>
    <limit effort="100" lower="0.0" upper="0.785" velocity="100"/>
    <mimic joint="left_qbhand_thumb_distal_joint" multiplier="1.0"/>
  </joint>
  <link name="left_qbhand_thumb_distal_link">
    <inertial>
      <mass value="0.009"/>
      <origin rpy="0 0 0" xyz="8.8025467e-03 -1.7219289e-03 0.0"/>
      <inertia ixx="2.6586142e-07" ixy="1.2416847e-08" ixz="0.0" iyy="5.9935767e-07" iyz="0.0" izz="6.6781963e-07"/>
    </inertial>
    <visual>
      <origin rpy="0 0 0" xyz="0 0 0"/>
      <geometry>
        <mesh filename="../meshes/qbhand/ph_distal_yupzfront1.STL" scale="1 1 1"/>
      </geometry>
      <material name="qbhand/distal">
        <color rgba="0.35 0.35 0.35 1.0"/>
      </material>
    </visual>
    <collision>
      <origin rpy="0 0 0" xyz="0 0 0"/>
      <geometry>
        <mesh filename="../meshes/qbhand/ph_distal_yupzfront1.STL" scale="1 1 1"/>
      </geometry>
    </collision>
  </link>
  <joint name="left_qbhand_index_knuckle_joint" type="revolute">
    <origin rpy="0 3.14 -1.57" xyz="-0.02 -0.007 -0.014"/>
    <parent link="left_qbhand_palm_link"/>
    <child link="left_qbhand_index_knuckle_link"/>
    <axis xyz="0 0 -1"/>
    <dynamics damping="0.0" friction="0.0"/>
    <limit effort="100" lower="-0.524" upper="0.524" velocity="100"/>
    <mimic joint="left_qbhand_synergy_joint" multiplier="0.2"/>
  </joint>
  <link name="left_qbhand_index_knuckle_link">
    <inertial>
      <mass value="0.0095"/>
      <origin rpy="0 0 0" xyz="4.2753603e-04  0.0 -1.4321738e-03"/>
      <inertia ixx="6.4337303e-07" ixy="0.0" ixz="-3.9373913e-08" iyy="1.1253771e-06" iyz="0.0" izz="7.2336948e-07"/>
    </inertial>
    <visual>
      <origin rpy="0 0 0" xyz="0 0 0"/>
      <geometry>
        <mesh filename="../meshes/qbhand/ph_knuckle_yupzfront1.STL" scale="1 1 1"/>
      </geometry>
      <material name="qbhand/knuckle">
        <color rgba="0.35 0.35 0.35 1.0"/>
      </material>
    </visual>
    <collision>
      <origin rpy="0 0 0" xyz="0 0 0"/>
      <geometry>
        <mesh filename="../meshes/qbhand/ph_knuckle_yupzfront1.STL" scale="1 1 1"/>
      </geometry>
    </collision>
  </link>
  <joint name="left_qbhand_index_proximal_joint" type="revolute">
    <origin rpy="1.57 0 0" xyz="0.009 0 0"/>
    <parent link="left_qbhand_index_knuckle_link"/>
    <child link="left_qbhand_index_proximal_virtual_link"/>
    <axis xyz="0 0 -1"/>
    <dynamics damping="0.0" friction="0.0"/>
    <limit effort="100" lower="0.0" upper="0.785" velocity="100"/>
    <mimic joint="left_qbhand_synergy_joint" multiplier="0.785"/>
  </joint>
  <link name="left_qbhand_index_proximal_virtual_link">
    <inertial>
      <origin rpy="0 0 0" xyz="0 0 0"/>
      <mass value="1e-4"/>
      <inertia ixx="1e-9" ixy="0.0" ixz="0.0" iyy="1e-9" iyz="0.0" izz="1e-9"/>
    </inertial>
  </link>
  <joint name="left_qbhand_index_proximal_virtual_joint" type="revolute">
    <origin rpy="0 0 0" xyz="0.013 0 0"/>
    <parent link="left_qbhand_index_proximal_virtual_link"/>
    <child link="left_qbhand_index_proximal_link"/>
    <axis xyz="0 0 -1"/>
    <dynamics damping="0.0" friction="0.0"/>
    <limit effort="100" lower="0.0" upper="0.785" velocity="100"/>
    <mimic joint="left_qbhand_index_proximal_joint" multiplier="1.0"/>
  </joint>
  <link name="left_qbhand_index_proximal_link">
    <inertial>
      <mass value="0.0082"/>
      <origin rpy="0 0 0" xyz="8.7707437e-03 -1.7863138e-03 0.0"/>
      <inertia ixx="2.2722068e-07" ixy="1.1586053e-08" ixz="0.0" iyy="5.5947233e-07" iyz="0.0" izz="5.9562195e-07"/>
    </inertial>
    <visual>
      <origin rpy="0 0 0" xyz="0 0 0"/>
      <geometry>
        <mesh filename="../meshes/qbhand/ph_medium_yupzfront1.STL" scale="1 1 1"/>
      </geometry>
      <material name="qbhand/proximal">
        <color rgba="0.35 0.35 0.35 1.0"/>
      </material>
    </visual>
    <collision>
      <origin rpy="0 0 0" xyz="0 0 0"/>
      <geometry>
        <mesh filename="../meshes/qbhand/ph_medium_yupzfront1.STL" scale="1 1 1"/>
      </geometry>
    </collision>
  </link>
  <joint name="left_qbhand_index_middle_joint" type="revolute">
    <origin rpy="0 0 0" xyz="0.017 0 0"/>
    <parent link="left_qbhand_index_proximal_link"/>
    <child link="left_qbhand_index_middle_virtual_link"/>
    <axis xyz="0 0 -1"/>
    <dynamics damping="0.0" friction="0.0"/>
    <limit effort="100" lower="0.0" upper="0.785" velocity="100"/>
    <mimic joint="left_qbhand_synergy_joint" multiplier="0.785"/>
  </joint>
  <link name="left_qbhand_index_middle_virtual_link">
    <inertial>
      <origin rpy="0 0 0" xyz="0 0 0"/>
      <mass value="1e-4"/>
      <inertia ixx="1e-9" ixy="0.0" ixz="0.0" iyy="1e-9" iyz="0.0" izz="1e-9"/>
    </inertial>
  </link>
  <joint name="left_qbhand_index_middle_virtual_joint" type="revolute">
    <origin rpy="0 0 0" xyz="0.013 0 0"/>
    <parent link="left_qbhand_index_middle_virtual_link"/>
    <child link="left_qbhand_index_middle_link"/>
    <axis xyz="0 0 -1"/>
    <dynamics damping="0.0" friction="0.0"/>
    <limit effort="100" lower="0.0" upper="0.785" velocity="100"/>
    <mimic joint="left_qbhand_index_middle_joint" multiplier="1.0"/>
  </joint>
  <link name="left_qbhand_index_middle_link">
    <inertial>
      <mass value="0.0063"/>
      <origin rpy="0 0 0" xyz="4.7601567e-03 -1.3786947e-03 0.0"/>
      <inertia ixx="1.8024201e-07" ixy="5.756798e-09" ixz="0.0" iyy="2.3516266e-07" iyz="0.0" izz="2.691504e-07"/>
    </inertial>
    <visual>
      <origin rpy="0 0 0" xyz="0 0 0"/>
      <geometry>
        <mesh filename="../meshes/qbhand/ph_short_yupzfront1.STL" scale="1 1 1"/>
      </geometry>
      <material name="qbhand/middle">
        <color rgba="0.35 0.35 0.35 1.0"/>
      </material>
    </visual>
    <collision>
      <origin rpy="0 0 0" xyz="0 0 0"/>
      <geometry>
        <mesh filename="../meshes/qbhand/ph_short_yupzfront1.STL" scale="1 1 1"/>
      </geometry>
    </collision>
  </link>
  <joint name="left_qbhand_index_distal_joint" type="revolute">
    <origin rpy="0 0 0" xyz="0.009 0 0"/>
    <parent link="left_qbhand_index_middle_link"/>
    <child link="left_qbhand_index_distal_virtual_link"/>
    <axis xyz="0 0 -1"/>
    <dynamics damping="0.0" friction="0.0"/>
    <limit effort="100" lower="0.0" upper="0.785" velocity="100"/>
    <mimic joint="left_qbhand_synergy_joint" multiplier="0.785"/>
  </joint>
  <link name="left_qbhand_index_distal_virtual_link">
    <inertial>
      <origin rpy="0 0 0" xyz="0 0 0"/>
      <mass value="1e-4"/>
      <inertia ixx="1e-9" ixy="0.0" ixz="0.0" iyy="1e-9" iyz="0.0" izz="1e-9"/>
    </inertial>
  </link>
  <joint name="left_qbhand_index_distal_virtual_joint" type="revolute">
    <origin rpy="0 0 0" xyz="0.013 0 0"/>
    <parent link="left_qbhand_index_distal_virtual_link"/>
    <child link="left_qbhand_index_distal_link"/>
    <axis xyz="0 0 -1"/>
    <dynamics damping="0.0" friction="0.0"/>
    <limit effort="100" lower="0.0" upper="0.785" velocity="100"/>
    <mimic joint="left_qbhand_index_distal_joint" multiplier="1.0"/>
  </joint>
  <link name="left_qbhand_index_distal_link">
    <inertial>
      <mass value="0.009"/>
      <origin rpy="0 0 0" xyz="8.8025467e-03 -1.7219289e-03 0.0"/>
      <inertia ixx="2.6586142e-07" ixy="1.2416847e-08" ixz="0.0" iyy="5.9935767e-07" iyz="0.0" izz="6.6781963e-07"/>
    </inertial>
    <visual>
      <origin rpy="0 0 0" xyz="0 0 0"/>
      <geometry>
        <mesh filename="../meshes/qbhand/ph_distal_yupzfront1.STL" scale="1 1 1"/>
      </geometry>
      <material name="qbhand/distal">
        <color rgba="0.35 0.35 0.35 1.0"/>
      </material>
    </visual>
    <collision>
      <origin rpy="0 0 0" xyz="0 0 0"/>
      <geometry>
        <mesh filename="../meshes/qbhand/ph_distal_yupzfront1.STL" scale="1 1 1"/>
      </geometry>
    </collision>
  </link>
  <joint name="left_qbhand_middle_knuckle_joint" type="revolute">
    <origin rpy="0 3.14 -1.57" xyz="0 0 -0.014"/>
    <parent link="left_qbhand_palm_link"/>
    <child link="left_qbhand_middle_knuckle_link"/>
    <axis xyz="0 0 -1"/>
    <dynamics damping="0.0" friction="0.0"/>
    <limit effort="100" lower="-0.524" upper="0.524" velocity="100"/>
    <mimic joint="left_qbhand_synergy_joint" multiplier="0.0"/>
  </joint>
  <link name="left_qbhand_middle_knuckle_link">
    <inertial>
      <mass value="0.0095"/>
      <origin rpy="0 0 0" xyz="4.2753603e-04  0.0 -1.4321738e-03"/>
      <inertia ixx="6.4337303e-07" ixy="0.0" ixz="-3.9373913e-08" iyy="1.1253771e-06" iyz="0.0" izz="7.2336948e-07"/>
    </inertial>
    <visual>
      <origin rpy="0 0 0" xyz="0 0 0"/>
      <geometry>
        <mesh filename="../meshes/qbhand/ph_knuckle_yupzfront1.STL" scale="1 1 1"/>
      </geometry>
      <material name="qbhand/knuckle">
        <color rgba="0.35 0.35 0.35 1.0"/>
      </material>
    </visual>
    <collision>
      <origin rpy="0 0 0" xyz="0 0 0"/>
      <geometry>
        <mesh filename="../meshes/qbhand/ph_knuckle_yupzfront1.STL" scale="1 1 1"/>
      </geometry>
    </collision>
  </link>
  <joint name="left_qbhand_middle_proximal_joint" type="revolute">
    <origin rpy="1.57 0 0" xyz="0.009 0 0"/>
    <parent link="left_qbhand_middle_knuckle_link"/>
    <child link="left_qbhand_middle_proximal_virtual_link"/>
    <axis xyz="0 0 -1"/>
    <dynamics damping="0.0" friction="0.0"/>
    <limit effort="100" lower="0.0" upper="0.785" velocity="100"/>
    <mimic joint="left_qbhand_synergy_joint" multiplier="0.785"/>
  </joint>
  <link name="left_qbhand_middle_proximal_virtual_link">
    <inertial>
      <origin rpy="0 0 0" xyz="0 0 0"/>
      <mass value="1e-4"/>
      <inertia ixx="1e-9" ixy="0.0" ixz="0.0" iyy="1e-9" iyz="0.0" izz="1e-9"/>
    </inertial>
  </link>
  <joint name="left_qbhand_middle_proximal_virtual_joint" type="revolute">
    <origin rpy="0 0 0" xyz="0.013 0 0"/>
    <parent link="left_qbhand_middle_proximal_virtual_link"/>
    <child link="left_qbhand_middle_proximal_link"/>
    <axis xyz="0 0 -1"/>
    <dynamics damping="0.0" friction="0.0"/>
    <limit effort="100" lower="0.0" upper="0.785" velocity="100"/>
    <mimic joint="left_qbhand_middle_proximal_joint" multiplier="1.0"/>
  </joint>
  <link name="left_qbhand_middle_proximal_link">
    <inertial>
      <mass value="0.0082"/>
      <origin rpy="0 0 0" xyz="8.7707437e-03 -1.7863138e-03 0.0"/>
      <inertia ixx="2.2722068e-07" ixy="1.1586053e-08" ixz="0.0" iyy="5.5947233e-07" iyz="0.0" izz="5.9562195e-07"/>
    </inertial>
    <visual>
      <origin rpy="0 0 0" xyz="0 0 0"/>
      <geometry>
        <mesh filename="../meshes/qbhand/ph_medium_yupzfront1.STL" scale="1 1 1"/>
      </geometry>
      <material name="qbhand/proximal">
        <color rgba="0.35 0.35 0.35 1.0"/>
      </material>
    </visual>
    <collision>
      <origin rpy="0 0 0" xyz="0 0 0"/>
      <geometry>
        <mesh filename="../meshes/qbhand/ph_medium_yupzfront1.STL" scale="1 1 1"/>
      </geometry>
    </collision>
  </link>
  <joint name="left_qbhand_middle_middle_joint" type="revolute">
    <origin rpy="0 0 0" xyz="0.017 0 0"/>
    <parent link="left_qbhand_middle_proximal_link"/>
    <child link="left_qbhand_middle_middle_virtual_link"/>
    <axis xyz="0 0 -1"/>
    <dynamics damping="0.0" friction="0.0"/>
    <limit effort="100" lower="0.0" upper="0.785" velocity="100"/>
    <mimic joint="left_qbhand_synergy_joint" multiplier="0.785"/>
  </joint>
  <link name="left_qbhand_middle_middle_virtual_link">
    <inertial>
      <origin rpy="0 0 0" xyz="0 0 0"/>
      <mass value="1e-4"/>
      <inertia ixx="1e-9" ixy="0.0" ixz="0.0" iyy="1e-9" iyz="0.0" izz="1e-9"/>
    </inertial>
  </link>
  <joint name="left_qbhand_middle_middle_virtual_joint" type="revolute">
    <origin rpy="0 0 0" xyz="0.013 0 0"/>
    <parent link="left_qbhand_middle_middle_virtual_link"/>
    <child link="left_qbhand_middle_middle_link"/>
    <axis xyz="0 0 -1"/>
    <dynamics damping="0.0" friction="0.0"/>
    <limit effort="100" lower="0.0" upper="0.785" velocity="100"/>
    <mimic joint="left_qbhand_middle_middle_joint" multiplier="1.0"/>
  </joint>
  <link name="left_qbhand_middle_middle_link">
    <inertial>
      <mass value="0.0063"/>
      <origin rpy="0 0 0" xyz="4.7601567e-03 -1.3786947e-03 0.0"/>
      <inertia ixx="1.8024201e-07" ixy="5.756798e-09" ixz="0.0" iyy="2.3516266e-07" iyz="0.0" izz="2.691504e-07"/>
    </inertial>
    <visual>
      <origin rpy="0 0 0" xyz="0 0 0"/>
      <geometry>
        <mesh filename="../meshes/qbhand/ph_short_yupzfront1.STL" scale="1 1 1"/>
      </geometry>
      <material name="qbhand/middle">
        <color rgba="0.35 0.35 0.35 1.0"/>
      </material>
    </visual>
    <collision>
      <origin rpy="0 0 0" xyz="0 0 0"/>
      <geometry>
        <mesh filename="../meshes/qbhand/ph_short_yupzfront1.STL" scale="1 1 1"/>
      </geometry>
    </collision>
  </link>
  <joint name="left_qbhand_middle_distal_joint" type="revolute">
    <origin rpy="0 0 0" xyz="0.009 0 0"/>
    <parent link="left_qbhand_middle_middle_link"/>
    <child link="left_qbhand_middle_distal_virtual_link"/>
    <axis xyz="0 0 -1"/>
    <dynamics damping="0.0" friction="0.0"/>
    <limit effort="100" lower="0.0" upper="0.785" velocity="100"/>
    <mimic joint="left_qbhand_synergy_joint" multiplier="0.785"/>
  </joint>
  <link name="left_qbhand_middle_distal_virtual_link">
    <inertial>
      <origin rpy="0 0 0" xyz="0 0 0"/>
      <mass value="1e-4"/>
      <inertia ixx="1e-9" ixy="0.0" ixz="0.0" iyy="1e-9" iyz="0.0" izz="1e-9"/>
    </inertial>
  </link>
  <joint name="left_qbhand_middle_distal_virtual_joint" type="revolute">
    <origin rpy="0 0 0" xyz="0.013 0 0"/>
    <parent link="left_qbhand_middle_distal_virtual_link"/>
    <child link="left_qbhand_middle_distal_link"/>
    <axis xyz="0 0 -1"/>
    <dynamics damping="0.0" friction="0.0"/>
    <limit effort="100" lower="0.0" upper="0.785" velocity="100"/>
    <mimic joint="left_qbhand_middle_distal_joint" multiplier="1.0"/>
  </joint>
  <link name="left_qbhand_middle_distal_link">
    <inertial>
      <mass value="0.009"/>
      <origin rpy="0 0 0" xyz="8.8025467e-03 -1.7219289e-03 0.0"/>
      <inertia ixx="2.6586142e-07" ixy="1.2416847e-08" ixz="0.0" iyy="5.9935767e-07" iyz="0.0" izz="6.6781963e-07"/>
    </inertial>
    <visual>
      <origin rpy="0 0 0" xyz="0 0 0"/>
      <geometry>
        <mesh filename="../meshes/qbhand/ph_distal_yupzfront1.STL" scale="1 1 1"/>
      </geometry>
      <material name="qbhand/distal">
        <color rgba="0.35 0.35 0.35 1.0"/>
      </material>
    </visual>
    <collision>
      <origin rpy="0 0 0" xyz="0 0 0"/>
      <geometry>
        <mesh filename="../meshes/qbhand/ph_distal_yupzfront1.STL" scale="1 1 1"/>
      </geometry>
    </collision>
  </link>
  <joint name="left_qbhand_ring_knuckle_joint" type="revolute">
    <origin rpy="0 3.14 -1.57" xyz="0.02 -0.007 -0.014"/>
    <parent link="left_qbhand_palm_link"/>
    <child link="left_qbhand_ring_knuckle_link"/>
    <axis xyz="0 0 -1"/>
    <dynamics damping="0.0" friction="0.0"/>
    <limit effort="100" lower="-0.524" upper="0.524" velocity="100"/>
    <mimic joint="left_qbhand_synergy_joint" multiplier="-0.2"/>
  </joint>
  <link name="left_qbhand_ring_knuckle_link">
    <inertial>
      <mass value="0.0095"/>
      <origin rpy="0 0 0" xyz="4.2753603e-04  0.0 -1.4321738e-03"/>
      <inertia ixx="6.4337303e-07" ixy="0.0" ixz="-3.9373913e-08" iyy="1.1253771e-06" iyz="0.0" izz="7.2336948e-07"/>
    </inertial>
    <visual>
      <origin rpy="0 0 0" xyz="0 0 0"/>
      <geometry>
        <mesh filename="../meshes/qbhand/ph_knuckle_yupzfront1.STL" scale="1 1 1"/>
      </geometry>
      <material name="qbhand/knuckle">
        <color rgba="0.35 0.35 0.35 1.0"/>
      </material>
    </visual>
    <collision>
      <origin rpy="0 0 0" xyz="0 0 0"/>
      <geometry>
        <mesh filename="../meshes/qbhand/ph_knuckle_yupzfront1.STL" scale="1 1 1"/>
      </geometry>
    </collision>
  </link>
  <joint name="left_qbhand_ring_proximal_joint" type="revolute">
    <origin rpy="1.57 0 0" xyz="0.009 0 0"/>
    <parent link="left_qbhand_ring_knuckle_link"/>
    <child link="left_qbhand_ring_proximal_virtual_link"/>
    <axis xyz="0 0 -1"/>
    <dynamics damping="0.0" friction="0.0"/>
    <limit effort="100" lower="0.0" upper="0.785" velocity="100"/>
    <mimic joint="left_qbhand_synergy_joint" multiplier="0.785"/>
  </joint>
  <link name="left_qbhand_ring_proximal_virtual_link">
    <inertial>
      <origin rpy="0 0 0" xyz="0 0 0"/>
      <mass value="1e-4"/>
      <inertia ixx="1e-9" ixy="0.0" ixz="0.0" iyy="1e-9" iyz="0.0" izz="1e-9"/>
    </inertial>
  </link>
  <joint name="left_qbhand_ring_proximal_virtual_joint" type="revolute">
    <origin rpy="0 0 0" xyz="0.013 0 0"/>
    <parent link="left_qbhand_ring_proximal_virtual_link"/>
    <child link="left_qbhand_ring_proximal_link"/>
    <axis xyz="0 0 -1"/>
    <dynamics damping="0.0" friction="0.0"/>
    <limit effort="100" lower="0.0" upper="0.785" velocity="100"/>
    <mimic joint="left_qbhand_ring_proximal_joint" multiplier="1.0"/>
  </joint>
  <link name="left_qbhand_ring_proximal_link">
    <inertial>
      <mass value="0.0082"/>
      <origin rpy="0 0 0" xyz="8.7707437e-03 -1.7863138e-03 0.0"/>
      <inertia ixx="2.2722068e-07" ixy="1.1586053e-08" ixz="0.0" iyy="5.5947233e-07" iyz="0.0" izz="5.9562195e-07"/>
    </inertial>
    <visual>
      <origin rpy="0 0 0" xyz="0 0 0"/>
      <geometry>
        <mesh filename="../meshes/qbhand/ph_medium_yupzfront1.STL" scale="1 1 1"/>
      </geometry>
      <material name="qbhand/proximal">
        <color rgba="0.35 0.35 0.35 1.0"/>
      </material>
    </visual>
    <collision>
      <origin rpy="0 0 0" xyz="0 0 0"/>
      <geometry>
        <mesh filename="../meshes/qbhand/ph_medium_yupzfront1.STL" scale="1 1 1"/>
      </geometry>
    </collision>
  </link>
  <joint name="left_qbhand_ring_middle_joint" type="revolute">
    <origin rpy="0 0 0" xyz="0.017 0 0"/>
    <parent link="left_qbhand_ring_proximal_link"/>
    <child link="left_qbhand_ring_middle_virtual_link"/>
    <axis xyz="0 0 -1"/>
    <dynamics damping="0.0" friction="0.0"/>
    <limit effort="100" lower="0.0" upper="0.785" velocity="100"/>
    <mimic joint="left_qbhand_synergy_joint" multiplier="0.785"/>
  </joint>
  <link name="left_qbhand_ring_middle_virtual_link">
    <inertial>
      <origin rpy="0 0 0" xyz="0 0 0"/>
      <mass value="1e-4"/>
      <inertia ixx="1e-9" ixy="0.0" ixz="0.0" iyy="1e-9" iyz="0.0" izz="1e-9"/>
    </inertial>
  </link>
  <joint name="left_qbhand_ring_middle_virtual_joint" type="revolute">
    <origin rpy="0 0 0" xyz="0.013 0 0"/>
    <parent link="left_qbhand_ring_middle_virtual_link"/>
    <child link="left_qbhand_ring_middle_link"/>
    <axis xyz="0 0 -1"/>
    <dynamics damping="0.0" friction="0.0"/>
    <limit effort="100" lower="0.0" upper="0.785" velocity="100"/>
    <mimic joint="left_qbhand_ring_middle_joint" multiplier="1.0"/>
  </joint>
  <link name="left_qbhand_ring_middle_link">
    <inertial>
      <mass value="0.0063"/>
      <origin rpy="0 0 0" xyz="4.7601567e-03 -1.3786947e-03 0.0"/>
      <inertia ixx="1.8024201e-07" ixy="5.756798e-09" ixz="0.0" iyy="2.3516266e-07" iyz="0.0" izz="2.691504e-07"/>
    </inertial>
    <visual>
      <origin rpy="0 0 0" xyz="0 0 0"/>
      <geometry>
        <mesh filename="../meshes/qbhand/ph_short_yupzfront1.STL" scale="1 1 1"/>
      </geometry>
      <material name="qbhand/middle">
        <color rgba="0.35 0.35 0.35 1.0"/>
      </material>
    </visual>
    <collision>
      <origin rpy="0 0 0" xyz="0 0 0"/>
      <geometry>
        <mesh filename="../meshes/qbhand/ph_short_yupzfront1.STL" scale="1 1 1"/>
      </geometry>
    </collision>
  </link>
  <joint name="left_qbhand_ring_distal_joint" type="revolute">
    <origin rpy="0 0 0" xyz="0.009 0 0"/>
    <parent link="left_qbhand_ring_middle_link"/>
    <child link="left_qbhand_ring_distal_virtual_link"/>
    <axis xyz="0 0 -1"/>
    <dynamics damping="0.0" friction="0.0"/>
    <limit effort="100" lower="0.0" upper="0.785" velocity="100"/>
    <mimic joint="left_qbhand_synergy_joint" multiplier="0.785"/>
  </joint>
  <link name="left_qbhand_ring_distal_virtual_link">
    <inertial>
      <origin rpy="0 0 0" xyz="0 0 0"/>
      <mass value="1e-4"/>
      <inertia ixx="1e-9" ixy="0.0" ixz="0.0" iyy="1e-9" iyz="0.0" izz="1e-9"/>
    </inertial>
  </link>
  <joint name="left_qbhand_ring_distal_virtual_joint" type="revolute">
    <origin rpy="0 0 0" xyz="0.013 0 0"/>
    <parent link="left_qbhand_ring_distal_virtual_link"/>
    <child link="left_qbhand_ring_distal_link"/>
    <axis xyz="0 0 -1"/>
    <dynamics damping="0.0" friction="0.0"/>
    <limit effort="100" lower="0.0" upper="0.785" velocity="100"/>
    <mimic joint="left_qbhand_ring_distal_joint" multiplier="1.0"/>
  </joint>
  <link name="left_qbhand_ring_distal_link">
    <inertial>
      <mass value="0.009"/>
      <origin rpy="0 0 0" xyz="8.8025467e-03 -1.7219289e-03 0.0"/>
      <inertia ixx="2.6586142e-07" ixy="1.2416847e-08" ixz="0.0" iyy="5.9935767e-07" iyz="0.0" izz="6.6781963e-07"/>
    </inertial>
    <visual>
      <origin rpy="0 0 0" xyz="0 0 0"/>
      <geometry>
        <mesh filename="../meshes/qbhand/ph_distal_yupzfront1.STL" scale="1 1 1"/>
      </geometry>
      <material name="qbhand/distal">
        <color rgba="0.35 0.35 0.35 1.0"/>
      </material>
    </visual>
    <collision>
      <origin rpy="0 0 0" xyz="0 0 0"/>
      <geometry>
        <mesh filename="../meshes/qbhand/ph_distal_yupzfront1.STL" scale="1 1 1"/>
      </geometry>
    </collision>
  </link>
  <joint name="left_qbhand_little_knuckle_joint" type="revolute">
    <origin rpy="0 3.14 -1.57" xyz="0.04 -0.012 -0.014"/>
    <parent link="left_qbhand_palm_link"/>
    <child link="left_qbhand_little_knuckle_link"/>
    <axis xyz="0 0 -1"/>
    <dynamics damping="0.0" friction="0.0"/>
    <limit effort="100" lower="-0.524" upper="0.524" velocity="100"/>
    <mimic joint="left_qbhand_synergy_joint" multiplier="-0.4"/>
  </joint>
  <link name="left_qbhand_little_knuckle_link">
    <inertial>
      <mass value="0.0095"/>
      <origin rpy="0 0 0" xyz="4.2753603e-04  0.0 -1.4321738e-03"/>
      <inertia ixx="6.4337303e-07" ixy="0.0" ixz="-3.9373913e-08" iyy="1.1253771e-06" iyz="0.0" izz="7.2336948e-07"/>
    </inertial>
    <visual>
      <origin rpy="0 0 0" xyz="0 0 0"/>
      <geometry>
        <mesh filename="../meshes/qbhand/ph_knuckle_yupzfront1.STL" scale="1 1 1"/>
      </geometry>
      <material name="qbhand/knuckle">
        <color rgba="0.35 0.35 0.35 1.0"/>
      </material>
    </visual>
    <collision>
      <origin rpy="0 0 0" xyz="0 0 0"/>
      <geometry>
        <mesh filename="../meshes/qbhand/ph_knuckle_yupzfront1.STL" scale="1 1 1"/>
      </geometry>
    </collision>
  </link>
  <joint name="left_qbhand_little_proximal_joint" type="revolute">
    <origin rpy="1.57 0 0" xyz="0.009 0 0"/>
    <parent link="left_qbhand_little_knuckle_link"/>
    <child link="left_qbhand_little_proximal_virtual_link"/>
    <axis xyz="0 0 -1"/>
    <dynamics damping="0.0" friction="0.0"/>
    <limit effort="100" lower="0.0" upper="0.785" velocity="100"/>
    <mimic joint="left_qbhand_synergy_joint" multiplier="0.785"/>
  </joint>
  <link name="left_qbhand_little_proximal_virtual_link">
    <inertial>
      <origin rpy="0 0 0" xyz="0 0 0"/>
      <mass value="1e-4"/>
      <inertia ixx="1e-9" ixy="0.0" ixz="0.0" iyy="1e-9" iyz="0.0" izz="1e-9"/>
    </inertial>
  </link>
  <joint name="left_qbhand_little_proximal_virtual_joint" type="revolute">
    <origin rpy="0 0 0" xyz="0.013 0 0"/>
    <parent link="left_qbhand_little_proximal_virtual_link"/>
    <child link="left_qbhand_little_proximal_link"/>
    <axis xyz="0 0 -1"/>
    <dynamics damping="0.0" friction="0.0"/>
    <limit effort="100" lower="0.0" upper="0.785" velocity="100"/>
    <mimic joint="left_qbhand_little_proximal_joint" multiplier="1.0"/>
  </joint>
  <link name="left_qbhand_little_proximal_link">
    <inertial>
      <mass value="0.0063"/>
      <origin rpy="0 0 0" xyz="4.7601567e-03 -1.3786947e-03 0.0"/>
      <inertia ixx="1.8024201e-07" ixy="5.756798e-09" ixz="0.0" iyy="2.3516266e-07" iyz="0.0" izz="2.691504e-07"/>
    </inertial>
    <visual>
      <origin rpy="0 0 0" xyz="0 0 0"/>
      <geometry>
        <mesh filename="../meshes/qbhand/ph_short_yupzfront1.STL" scale="1 1 1"/>
      </geometry>
      <material name="qbhand/proximal">
        <color rgba="0.35 0.35 0.35 1.0"/>
      </material>
    </visual>
    <collision>
      <origin rpy="0 0 0" xyz="0 0 0"/>
      <geometry>
        <mesh filename="../meshes/qbhand/ph_short_yupzfront1.STL" scale="1 1 1"/>
      </geometry>
    </collision>
  </link>
  <joint name="left_qbhand_little_middle_joint" type="revolute">
    <origin rpy="0 0 0" xyz="0.009 0 0"/>
    <parent link="left_qbhand_little_proximal_link"/>
    <child link="left_qbhand_little_middle_virtual_link"/>
    <axis xyz="0 0 -1"/>
    <dynamics damping="0.0" friction="0.0"/>
    <limit effort="100" lower="0.0" upper="0.785" velocity="100"/>
    <mimic joint="left_qbhand_synergy_joint" multiplier="0.785"/>
  </joint>
  <link name="left_qbhand_little_middle_virtual_link">
    <inertial>
      <origin rpy="0 0 0" xyz="0 0 0"/>
      <mass value="1e-4"/>
      <inertia ixx="1e-9" ixy="0.0" ixz="0.0" iyy="1e-9" iyz="0.0" izz="1e-9"/>
    </inertial>
  </link>
  <joint name="left_qbhand_little_middle_virtual_joint" type="revolute">
    <origin rpy="0 0 0" xyz="0.013 0 0"/>
    <parent link="left_qbhand_little_middle_virtual_link"/>
    <child link="left_qbhand_little_middle_link"/>
    <axis xyz="0 0 -1"/>
    <dynamics damping="0.0" friction="0.0"/>
    <limit effort="100" lower="0.0" upper="0.785" velocity="100"/>
    <mimic joint="left_qbhand_little_middle_joint" multiplier="1.0"/>
  </joint>
  <link name="left_qbhand_little_middle_link">
    <inertial>
      <mass value="0.0063"/>
      <origin rpy="0 0 0" xyz="4.7601567e-03 -1.3786947e-03 0.0"/>
      <inertia ixx="1.8024201e-07" ixy="5.756798e-09" ixz="0.0" iyy="2.3516266e-07" iyz="0.0" izz="2.691504e-07"/>
    </inertial>
    <visual>
      <origin rpy="0 0 0" xyz="0 0 0"/>
      <geometry>
        <mesh filename="../meshes/qbhand/ph_short_yupzfront1.STL" scale="1 1 1"/>
      </geometry>
      <material name="qbhand/middle">
        <color rgba="0.35 0.35 0.35 1.0"/>
      </material>
    </visual>
    <collision>
      <origin rpy="0 0 0" xyz="0 0 0"/>
      <geometry>
        <mesh filename="../meshes/qbhand/ph_short_yupzfront1.STL" scale="1 1 1"/>
      </geometry>
    </collision>
  </link>
  <joint name="left_qbhand_little_distal_joint" type="revolute">
    <origin rpy="0 0 0" xyz="0.009 0 0"/>
    <parent link="left_qbhand_little_middle_link"/>
    <child link="left_qbhand_little_distal_virtual_link"/>
    <axis xyz="0 0 -1"/>
    <dynamics damping="0.0" friction="0.0"/>
    <limit effort="100" lower="0.0" upper="0.785" velocity="100"/>
    <mimic joint="left_qbhand_synergy_joint" multiplier="0.785"/>
  </joint>
  <link name="left_qbhand_little_distal_virtual_link">
    <inertial>
      <origin rpy="0 0 0" xyz="0 0 0"/>
      <mass value="1e-4"/>
      <inertia ixx="1e-9" ixy="0.0" ixz="0.0" iyy="1e-9" iyz="0.0" izz="1e-9"/>
    </inertial>
  </link>
  <joint name="left_qbhand_little_distal_virtual_joint" type="revolute">
    <origin rpy="0 0 0" xyz="0.013 0 0"/>
    <parent link="left_qbhand_little_distal_virtual_link"/>
    <child link="left_qbhand_little_distal_link"/>
    <axis xyz="0 0 -1"/>
    <dynamics damping="0.0" friction="0.0"/>
    <limit effort="100" lower="0.0" upper="0.785" velocity="100"/>
    <mimic joint="left_qbhand_little_distal_joint" multiplier="1.0"/>
  </joint>
  <link name="left_qbhand_little_distal_link">
    <inertial>
      <mass value="0.009"/>
      <origin rpy="0 0 0" xyz="8.8025467e-03 -1.7219289e-03 0.0"/>
      <inertia ixx="2.6586142e-07" ixy="1.2416847e-08" ixz="0.0" iyy="5.9935767e-07" iyz="0.0" izz="6.6781963e-07"/>
    </inertial>
    <visual>
      <origin rpy="0 0 0" xyz="0 0 0"/>
      <geometry>
        <mesh filename="../meshes/qbhand/ph_distal_yupzfront1.STL" scale="1 1 1"/>
      </geometry>
      <material name="qbhand/distal">
        <color rgba="0.35 0.35 0.35 1.0"/>
      </material>
    </visual>
    <collision>
      <origin rpy="0 0 0" xyz="0 0 0"/>
      <geometry>
        <mesh filename="../meshes/qbhand/ph_distal_yupzfront1.STL" scale="1 1 1"/>
      </geometry>
    </collision>
  </link>
  <joint name="left_qbhand_end_effector_fixed_joint" type="fixed">
    <origin rpy="-1.57 0 0" xyz="-0.03 0.060 0.142"/>
    <parent link="left_qbhand_base_link"/>
    <child link="left_qbhand_end_effector_link"/>
  </joint>
  <link name="left_qbhand_end_effector_link"/>
  <joint name="panda_right_joint_torso_end" type="fixed">
    <parent link="torso_end"/>
    <child link="panda_right_link0"/>
    <origin rpy="1.3685238493647454 0.913218224774749 0.6168337646727412" xyz="-0.08537 -0.07009 0.2535"/>
  </joint>
  <link name="panda_right_link0">
    <visual>
      <origin rpy="0 0 0" xyz="0 0 0"/>
      <geometry>
        <mesh filename="../meshes/franka/visual/link0.dae"/>
      </geometry>
    </visual>
    <collision>
      <origin rpy="0 0 0" xyz="0 0 0"/>
      <geometry>
        <mesh filename="../meshes/franka/collision/link0.stl"/>
      </geometry>
    </collision>
    <inertial>
      <!-- Estimated guesses from CAD -->
      <origin rpy="0 0 0" xyz="-0.041018 -0.00014 0.049974"/>
      <mass value="0.629769"/>
      <inertia ixx="0.00315" ixy="8.2904E-07" ixz="0.00015" iyy="0.00388" iyz="8.2299E-06" izz="0.004285"/>
    </inertial>
  </link>
  <link name="panda_right_link1">
    <visual>
      <origin rpy="0 0 0" xyz="0 0 0"/>
      <geometry>
        <mesh filename="../meshes/franka/visual/link1.dae"/>
      </geometry>
    </visual>
    <collision>
      <origin rpy="0 0 0" xyz="0 0 0"/>
      <geometry>
        <mesh filename="../meshes/franka/collision/link1.stl"/>
      </geometry>
    </collision>
    <inertial>
      <origin rpy="0 0 0" xyz="0.003875 0.002081 -0.04762"/>
      <mass value="4.970684"/>
      <inertia ixx="0.70337" ixy="-0.00013900" ixz="0.0067720" iyy="0.70661" iyz="0.019169" izz="0.0091170"/>
    </inertial>
  </link>
  <joint name="panda_right_joint1" type="revolute">
    <safety_controller k_position="100.0" k_velocity="40.0" soft_lower_limit="-2.8973" soft_upper_limit="2.8973"/>
    <origin rpy="0 0 0" xyz="0 0 0.333"/>
    <parent link="panda_right_link0"/>
    <child link="panda_right_link1"/>
    <axis xyz="0 0 1"/>
    <limit acceleration="15" effort="87" lower="-2.8973" upper="2.8973" velocity="2.1750"/>
    <dynamics D="1" K="7000" damping="0.003" friction="0.0" mu_coulomb="0" mu_viscous="16"/>
  </joint>
  <link name="panda_right_link2">
    <visual>
      <origin rpy="0 0 0" xyz="0 0 0"/>
      <geometry>
        <mesh filename="../meshes/franka/visual/link2.dae"/>
      </geometry>
    </visual>
    <collision>
      <origin rpy="0 0 0" xyz="0 0 0"/>
      <geometry>
        <mesh filename="../meshes/franka/collision/link2.stl"/>
      </geometry>
    </collision>
    <inertial>
      <origin rpy="0 0 0" xyz=" -0.003141 -0.02872  0.003495"/>
      <mass value="0.646926"/>
      <inertia ixx="0.0079620" ixy="-3.9250e-3" ixz="1.0254e-02" iyy="2.8110e-02" iyz="7.0400e-04" izz="2.5995e-02"/>
    </inertial>
  </link>
  <joint name="panda_right_joint2" type="revolute">
    <safety_controller k_position="100.0" k_velocity="40.0" soft_lower_limit="-1.7628" soft_upper_limit="1.7628"/>
    <origin rpy="-1.5707963267948966 0 0" xyz="0 0 0"/>
    <parent link="panda_right_link1"/>
    <child link="panda_right_link2"/>
    <axis xyz="0 0 1"/>
    <limit acceleration="7.5" effort="87" lower="-1.7628" upper="1.7628" velocity="2.1750"/>
    <dynamics D="1" K="7000" damping="0.003" friction="0.0" mu_coulomb="0" mu_viscous="16"/>
  </joint>
  <link name="panda_right_link3">
    <visual>
      <origin rpy="0 0 0" xyz="0 0 0"/>
      <geometry>
        <mesh filename="../meshes/franka/visual/link3.dae"/>
      </geometry>
    </visual>
    <collision>
      <origin rpy="0 0 0" xyz="0 0 0"/>
      <geometry>
        <mesh filename="../meshes/franka/collision/link3.stl"/>
      </geometry>
    </collision>
    <inertial>
      <origin rpy="0 0 0" xyz="2.7518e-02 3.9252e-02 -6.6502e-02"/>
      <mass value="3.228604"/>
      <inertia ixx="3.7242e-02" ixy="-4.7610e-03" ixz="-1.1396e-02" iyy="3.6155e-02" iyz="-1.2805e-02" izz="1.0830e-02"/>
    </inertial>
  </link>
  <joint name="panda_right_joint3" type="revolute">
    <safety_controller k_position="100.0" k_velocity="40.0" soft_lower_limit="-2.8973" soft_upper_limit="2.8973"/>
    <origin rpy="1.5707963267948966 0 0" xyz="0 -0.316 0"/>
    <parent link="panda_right_link2"/>
    <child link="panda_right_link3"/>
    <axis xyz="0 0 1"/>
    <limit acceleration="12.5" effort="87" lower="-2.8973" upper="2.8973" velocity="2.1750"/>
    <dynamics D="1" K="7000" damping="0.003" friction="0.0" mu_coulomb="0" mu_viscous="16"/>
  </joint>
  <link name="panda_right_link4">
    <visual>
      <origin rpy="0 0 0" xyz="0 0 0"/>
      <geometry>
        <mesh filename="../meshes/franka/visual/link4.dae"/>
      </geometry>
    </visual>
    <collision>
      <origin rpy="0 0 0" xyz="0 0 0"/>
      <geometry>
        <mesh filename="../meshes/franka/collision/link4.stl"/>
      </geometry>
    </collision>
    <inertial>
      <origin rpy="0 0 0" xyz="-5.317e-02 1.04419e-01 2.7454e-02"/>
      <mass value="3.587895"/>
      <inertia ixx="2.5853e-02" ixy="7.7960e-03" ixz="-1.3320e-03" iyy="1.9552e-02" iyz="8.6410e-03" izz="2.8323e-02"/>
    </inertial>
  </link>
  <joint name="panda_right_joint4" type="revolute">
    <safety_controller k_position="100.0" k_velocity="40.0" soft_lower_limit="-3.0718" soft_upper_limit="-0.0698"/>
    <origin rpy="1.5707963267948966 0 0" xyz="0.0825 0 0"/>
    <parent link="panda_right_link3"/>
    <child link="panda_right_link4"/>
    <axis xyz="0 0 1"/>
    <limit acceleration="12.5" effort="87" lower="-3.0718" upper="-0.0698" velocity="2.1750"/>
    <dynamics D="1" K="7000" damping="0.003" friction="0.0" mu_coulomb="0" mu_viscous="16"/>
  </joint>
  <link name="panda_right_link5">
    <visual>
      <origin rpy="0 0 0" xyz="0 0 0"/>
      <geometry>
        <mesh filename="../meshes/franka/visual/link5.dae"/>
      </geometry>
    </visual>
    <collision>
      <origin rpy="0 0 0" xyz="0 0 0"/>
      <geometry>
        <mesh filename="../meshes/franka/collision/link5.stl"/>
      </geometry>
    </collision>
    <inertial>
      <origin rpy="0 0 0" xyz="-1.1953e-02 4.1065e-02 -3.8437e-02"/>
      <mass value="1.225946"/>
      <inertia ixx="3.5549e-02" ixy="-2.1170e-03" ixz="-4.0370e-03" iyy="2.9474e-02" iyz="2.2900e-04" izz="8.6270e-03"/>
    </inertial>
  </link>
  <joint name="panda_right_joint5" type="revolute">
    <safety_controller k_position="100.0" k_velocity="40.0" soft_lower_limit="-2.8973" soft_upper_limit="2.8973"/>
    <origin rpy="-1.5707963267948966 0 0" xyz="-0.0825 0.384 0"/>
    <parent link="panda_right_link4"/>
    <child link="panda_right_link5"/>
    <axis xyz="0 0 1"/>
    <limit acceleration="15" effort="12" lower="-2.8973" upper="2.8973" velocity="2.6100"/>
    <dynamics D="1" K="7000" damping="0.003" friction="0.0" mu_coulomb="0" mu_viscous="16"/>
  </joint>
  <link name="panda_right_link6">
    <visual>
      <origin rpy="0 0 0" xyz="0 0 0"/>
      <geometry>
        <mesh filename="../meshes/franka/visual/link6.dae"/>
      </geometry>
    </visual>
    <collision>
      <origin rpy="0 0 0" xyz="0 0 0"/>
      <geometry>
        <mesh filename="../meshes/franka/collision/link6.stl"/>
      </geometry>
    </collision>
    <inertial>
      <origin rpy="0 0 0" xyz="6.0149e-02 -1.4117e-02 -1.0517e-02"/>
      <mass value="1.666555"/>
      <inertia ixx="1.9640e-03" ixy="1.0900e-04" ixz="-1.1580e-03" iyy="4.3540e-03" iyz="3.4100e-04" izz="5.4330e-03"/>
    </inertial>
  </link>
  <joint name="panda_right_joint6" type="revolute">
    <safety_controller k_position="100.0" k_velocity="40.0" soft_lower_limit="-0.0175" soft_upper_limit="3.7525"/>
    <origin rpy="1.5707963267948966 0 0" xyz="0 0 0"/>
    <parent link="panda_right_link5"/>
    <child link="panda_right_link6"/>
    <axis xyz="0 0 1"/>
    <limit acceleration="20" effort="12" lower="-0.0175" upper="3.7525" velocity="2.6100"/>
    <dynamics D="1" K="7000" damping="0.003" friction="0.0" mu_coulomb="0" mu_viscous="16"/>
  </joint>
  <link name="panda_right_link7">
    <visual>
      <origin rpy="0 0 0" xyz="0 0 0"/>
      <geometry>
        <mesh filename="../meshes/franka/visual/link7.dae"/>
      </geometry>
    </visual>
    <collision>
      <origin rpy="0 0 0" xyz="0 0 0"/>
      <geometry>
        <mesh filename="../meshes/franka/collision/link7.stl"/>
      </geometry>
    </collision>
    <inertial>
      <origin rpy="0 0 0" xyz="1.0517e-02 -4.252e-03 6.1597e-02"/>
      <mass value="7.35522e-01"/>
      <inertia ixx="1.2516e-02" ixy="-4.2800e-04" ixz="-1.1960e-03" iyy="1.0027e-02" iyz="-7.4100e-04" izz="4.8150e-03"/>
    </inertial>
  </link>
  <joint name="panda_right_joint7" type="revolute">
    <safety_controller k_position="100.0" k_velocity="40.0" soft_lower_limit="-2.8973" soft_upper_limit="2.8973"/>
    <origin rpy="1.5707963267948966 0 0" xyz="0.088 0 0"/>
    <parent link="panda_right_link6"/>
    <child link="panda_right_link7"/>
    <axis xyz="0 0 1"/>
    <limit acceleration="20" effort="12" lower="-2.8973" upper="2.8973" velocity="2.6100"/>
    <dynamics D="1" K="7000" damping="0.003" friction="0.0" mu_coulomb="0" mu_viscous="16"/>
  </joint>
  <joint name="panda_right_end_effector_joint" type="fixed">
    <parent link="panda_right_link7"/>
    <child link="right_hand_root_link"/>
    <origin rpy="0 0 -0.7853981633974483" xyz="0 0 0.107"/>
  </joint>
  <link name="right_hand_root_link"/>
  <joint name="right_qbhand_flange_joint" type="fixed">
    <origin rpy="0 0 0.78" xyz="0 0 0"/>
    <parent link="right_hand_root_link"/>
    <child link="flange90_r"/>
  </joint>
  <link name="flange90_r">
    <visual>
      <origin rpy="0 0 0" xyz="0 0 0"/>
      <geometry>
        <mesh filename="../meshes/clover/visual/flange90_yup.dae"/>
      </geometry>
    </visual>
    <collision>
      <origin rpy="0 0 0" xyz="0 0 0"/>
      <geometry>
        <mesh filename="../meshes/clover/collision/flange90_zup.STL"/>
      </geometry>
    </collision>
  </link>
  <joint name="right_qbhand_base_fixed_joint" type="fixed">
    <origin rpy="1.5708 0 1.5708" xyz="0.046 0 0.038"/>
    <parent link="flange90_r"/>
    <child link="right_qbhand_base_link"/>
  </joint>
  <link name="right_qbhand_base_link">
    <inertial>
      <mass value="0.45"/>
      <origin rpy="0 0 0" xyz="0.0030 -0.0449 0.0135"/>
      <inertia ixx="0.00045" ixy="0.0" ixz="0.0" iyy="0.0006" iyz="0.0" izz="0.00025"/>
    </inertial>
    <visual>
      <origin rpy="0 0 0" xyz="0 0 0"/>
      <geometry>
        <mesh filename="../meshes/qbhand/flange_iso_04_yupzfront.STL" scale="1 1 1"/>
      </geometry>
      <material name="qbhand/base"/>
    </visual>
    <collision>
      <origin rpy="0 0 0" xyz="0 0 0"/>
      <geometry>
        <mesh filename="../meshes/qbhand/flange_iso_04.stl" scale="0.001 0.001 0.001"/>
      </geometry>
    </collision>
  </link>
  <joint name="right_qbhand_palm_fixed_joint" type="fixed">
    <origin rpy="1.57 0 0" xyz="-0.0045 0.0145 0.144"/>
    <parent link="right_qbhand_base_link"/>
    <child link="right_qbhand_palm_link"/>
  </joint>
  <link name="right_qbhand_palm_link">
    <inertial>
      <mass value="0.45"/>
      <origin rpy="0 0 0" xyz="0.0030 -0.0449 0.0135"/>
      <inertia ixx="0.00045" ixy="0.0" ixz="0.0" iyy="0.0006" iyz="0.0" izz="0.00025"/>
    </inertial>
    <visual>
      <origin rpy="0 0 0" xyz="0 0 0"/>
      <geometry>
        <mesh filename="../meshes/qbhand/palm_pinch_r_yupzfront2.STL" scale="1 1 1"/>
      </geometry>
      <material name="qbhand/palm"/>
    </visual>
    <collision>
      <origin rpy="0 0 0" xyz="0 0 0"/>
      <geometry>
        <mesh filename="../meshes/qbhand/palm_pinch_r.stl" scale="0.001 0.001 0.001"/>
      </geometry>
    </collision>
  </link>
  <joint name="right_qbhand_synergy_joint" type="fixed">
    <origin rpy="0 0 0" xyz="0 0 0"/>
    <parent link="right_qbhand_palm_link"/>
    <child link="right_qbhand_synergy_tendon_virtual_link"/>
    <axis xyz="0 0 1"/>
    <dynamics damping="0.0" friction="0.0"/>
    <limit effort="100" lower="0.0" upper="1.0" velocity="100"/>
  </joint>
  <transmission name="right_qbhand_synergy_transmission">
    <type>transmission_interface/qbMoveTransmission</type>
    <joint name="right_qbhand_synergy_joint">
      <hardwareInterface>hardware_interface/EffortJointInterface</hardwareInterface>
    </joint>
    <actuator name="right_qbhand_synergy_joint">
      <hardwareInterface>hardware_interface/EffortJointInterface</hardwareInterface>
    </actuator>
  </transmission>
  <link name="right_qbhand_synergy_tendon_virtual_link">
    <inertial>
      <origin rpy="0 0 0" xyz="0 0 0"/>
      <mass value="1e-4"/>
      <inertia ixx="1e-9" ixy="0.0" ixz="0.0" iyy="1e-9" iyz="0.0" izz="1e-9"/>
    </inertial>
  </link>
  <joint name="right_qbhand_thumb_knuckle_joint" type="revolute">
    <origin rpy="-1.57 3.14 0.0" xyz="-0.044 -0.0465 -0.002"/>
    <parent link="right_qbhand_palm_link"/>
    <child link="right_qbhand_thumb_knuckle_link"/>
    <axis xyz="0 0 -1"/>
    <dynamics damping="0.0" friction="0.0"/>
    <limit effort="100" lower="0.0" upper="1.571" velocity="100"/>
    <mimic joint="right_qbhand_synergy_joint" multiplier="2.542"/>
  </joint>
  <link name="right_qbhand_thumb_knuckle_link">
    <inertial>
      <mass value="0.01"/>
      <origin rpy="0 0 0" xyz="1.3071561e-02 -2.7357764e-03 6.4347823e-04"/>
      <inertia ixx="3.5865978e-07" ixy="2.0944224e-07" ixz="-6.8657569e-08" iyy="1.3885564e-06" iyz="3.2170608e-08" izz="1.3571203e-06"/>
    </inertial>
    <visual>
      <origin rpy="0 0 0" xyz="0 0 0"/>
      <geometry>
        <mesh filename="../meshes/qbhand/ph_thumb_r_yupzfront1.STL" scale="1 1 1"/>
      </geometry>
      <material name="qbhand/knuckle"/>
    </visual>
    <collision>
      <origin rpy="0 0 0" xyz="0 0 0"/>
      <geometry>
        <mesh filename="../meshes/qbhand/ph_thumb_r_yupzfront1.STL" scale="1 1 1"/>
      </geometry>
    </collision>
  </link>
  <joint name="right_qbhand_thumb_proximal_joint" type="revolute">
    <origin rpy="-1.1415 0.0 0.0" xyz="0.0255 -0.0038 -0.00012"/>
    <parent link="right_qbhand_thumb_knuckle_link"/>
    <child link="right_qbhand_thumb_proximal_virtual_link"/>
    <axis xyz="0 0 -1"/>
    <dynamics damping="0.0" friction="0.0"/>
    <limit effort="100" lower="0.0" upper="0.785" velocity="100"/>
    <mimic joint="right_qbhand_synergy_joint" multiplier="0.785"/>
  </joint>
  <link name="right_qbhand_thumb_proximal_virtual_link">
    <inertial>
      <origin rpy="0 0 0" xyz="0 0 0"/>
      <mass value="1e-4"/>
      <inertia ixx="1e-9" ixy="0.0" ixz="0.0" iyy="1e-9" iyz="0.0" izz="1e-9"/>
    </inertial>
  </link>
  <joint name="right_qbhand_thumb_proximal_virtual_joint" type="revolute">
    <origin rpy="0 0 0" xyz="0.013 0 0"/>
    <parent link="right_qbhand_thumb_proximal_virtual_link"/>
    <child link="right_qbhand_thumb_proximal_link"/>
    <axis xyz="0 0 -1"/>
    <dynamics damping="0.0" friction="0.0"/>
    <limit effort="100" lower="0.0" upper="0.785" velocity="100"/>
    <mimic joint="right_qbhand_thumb_proximal_joint" multiplier="1.0"/>
  </joint>
  <link name="right_qbhand_thumb_proximal_link">
    <inertial>
      <mass value="0.0063"/>
      <origin rpy="0 0 0" xyz="4.7601567e-03 -1.3786947e-03 0.0"/>
      <inertia ixx="1.8024201e-07" ixy="5.756798e-09" ixz="0.0" iyy="2.3516266e-07" iyz="0.0" izz="2.691504e-07"/>
    </inertial>
    <visual>
      <origin rpy="0 0 0" xyz="0 0 0"/>
      <geometry>
        <mesh filename="../meshes/qbhand/ph_short_yupzfront1.STL" scale="1 1 1"/>
      </geometry>
      <material name="qbhand/proximal"/>
    </visual>
    <collision>
      <origin rpy="0 0 0" xyz="0 0 0"/>
      <geometry>
        <mesh filename="../meshes/qbhand/ph_short_yupzfront1.STL" scale="1 1 1"/>
      </geometry>
    </collision>
  </link>
  <joint name="right_qbhand_thumb_distal_joint" type="revolute">
    <origin rpy="0 0 0" xyz="0.009 0 0"/>
    <parent link="right_qbhand_thumb_proximal_link"/>
    <child link="right_qbhand_thumb_distal_virtual_link"/>
    <axis xyz="0 0 -1"/>
    <dynamics damping="0.0" friction="0.0"/>
    <limit effort="100" lower="0.0" upper="0.785" velocity="100"/>
    <mimic joint="right_qbhand_synergy_joint" multiplier="0.785"/>
  </joint>
  <link name="right_qbhand_thumb_distal_virtual_link">
    <inertial>
      <origin rpy="0 0 0" xyz="0 0 0"/>
      <mass value="1e-4"/>
      <inertia ixx="1e-9" ixy="0.0" ixz="0.0" iyy="1e-9" iyz="0.0" izz="1e-9"/>
    </inertial>
  </link>
  <joint name="right_qbhand_thumb_distal_virtual_joint" type="revolute">
    <origin rpy="0 0 0" xyz="0.013 0 0"/>
    <parent link="right_qbhand_thumb_distal_virtual_link"/>
    <child link="right_qbhand_thumb_distal_link"/>
    <axis xyz="0 0 -1"/>
    <dynamics damping="0.0" friction="0.0"/>
    <limit effort="100" lower="0.0" upper="0.785" velocity="100"/>
    <mimic joint="right_qbhand_thumb_distal_joint" multiplier="1.0"/>
  </joint>
  <link name="right_qbhand_thumb_distal_link">
    <inertial>
      <mass value="0.009"/>
      <origin rpy="0 0 0" xyz="8.8025467e-03 -1.7219289e-03 0.0"/>
      <inertia ixx="2.6586142e-07" ixy="1.2416847e-08" ixz="0.0" iyy="5.9935767e-07" iyz="0.0" izz="6.6781963e-07"/>
    </inertial>
    <visual>
      <origin rpy="0 0 0" xyz="0 0 0"/>
      <geometry>
        <mesh filename="../meshes/qbhand/ph_distal_yupzfront1.STL" scale="1 1 1"/>
      </geometry>
      <material name="qbhand/distal"/>
    </visual>
    <collision>
      <origin rpy="0 0 0" xyz="0 0 0"/>
      <geometry>
        <mesh filename="../meshes/qbhand/ph_distal_yupzfront1.STL" scale="1 1 1"/>
      </geometry>
    </collision>
  </link>
  <joint name="right_qbhand_index_knuckle_joint" type="revolute">
    <origin rpy="0 0 1.57" xyz="-0.02 -0.007 0.014"/>
    <parent link="right_qbhand_palm_link"/>
    <child link="right_qbhand_index_knuckle_link"/>
    <axis xyz="0 0 -1"/>
    <dynamics damping="0.0" friction="0.0"/>
    <limit effort="100" lower="-0.524" upper="0.524" velocity="100"/>
    <mimic joint="right_qbhand_synergy_joint" multiplier="-0.2"/>
  </joint>
  <link name="right_qbhand_index_knuckle_link">
    <inertial>
      <mass value="0.0095"/>
      <origin rpy="0 0 0" xyz="4.2753603e-04  0.0 -1.4321738e-03"/>
      <inertia ixx="6.4337303e-07" ixy="0.0" ixz="-3.9373913e-08" iyy="1.1253771e-06" iyz="0.0" izz="7.2336948e-07"/>
    </inertial>
    <visual>
      <origin rpy="0 0 0" xyz="0 0 0"/>
      <geometry>
        <mesh filename="../meshes/qbhand/ph_knuckle_yupzfront1.STL" scale="1 1 1"/>
      </geometry>
      <material name="qbhand/knuckle"/>
    </visual>
    <collision>
      <origin rpy="0 0 0" xyz="0 0 0"/>
      <geometry>
        <mesh filename="../meshes/qbhand/ph_knuckle_yupzfront1.STL" scale="1 1 1"/>
      </geometry>
    </collision>
  </link>
  <joint name="right_qbhand_index_proximal_joint" type="revolute">
    <origin rpy="1.57 0 0" xyz="0.009 0 0"/>
    <parent link="right_qbhand_index_knuckle_link"/>
    <child link="right_qbhand_index_proximal_virtual_link"/>
    <axis xyz="0 0 -1"/>
    <dynamics damping="0.0" friction="0.0"/>
    <limit effort="100" lower="0.0" upper="0.785" velocity="100"/>
    <mimic joint="right_qbhand_synergy_joint" multiplier="0.785"/>
  </joint>
  <link name="right_qbhand_index_proximal_virtual_link">
    <inertial>
      <origin rpy="0 0 0" xyz="0 0 0"/>
      <mass value="1e-4"/>
      <inertia ixx="1e-9" ixy="0.0" ixz="0.0" iyy="1e-9" iyz="0.0" izz="1e-9"/>
    </inertial>
  </link>
  <joint name="right_qbhand_index_proximal_virtual_joint" type="revolute">
    <origin rpy="0 0 0" xyz="0.013 0 0"/>
    <parent link="right_qbhand_index_proximal_virtual_link"/>
    <child link="right_qbhand_index_proximal_link"/>
    <axis xyz="0 0 -1"/>
    <dynamics damping="0.0" friction="0.0"/>
    <limit effort="100" lower="0.0" upper="0.785" velocity="100"/>
    <mimic joint="right_qbhand_index_proximal_joint" multiplier="1.0"/>
  </joint>
  <link name="right_qbhand_index_proximal_link">
    <inertial>
      <mass value="0.0082"/>
      <origin rpy="0 0 0" xyz="8.7707437e-03 -1.7863138e-03 0.0"/>
      <inertia ixx="2.2722068e-07" ixy="1.1586053e-08" ixz="0.0" iyy="5.5947233e-07" iyz="0.0" izz="5.9562195e-07"/>
    </inertial>
    <visual>
      <origin rpy="0 0 0" xyz="0 0 0"/>
      <geometry>
        <mesh filename="../meshes/qbhand/ph_medium_yupzfront1.STL" scale="1 1 1"/>
      </geometry>
      <material name="qbhand/proximal"/>
    </visual>
    <collision>
      <origin rpy="0 0 0" xyz="0 0 0"/>
      <geometry>
        <mesh filename="../meshes/qbhand/ph_medium_yupzfront1.STL" scale="1 1 1"/>
      </geometry>
    </collision>
  </link>
  <joint name="right_qbhand_index_middle_joint" type="revolute">
    <origin rpy="0 0 0" xyz="0.017 0 0"/>
    <parent link="right_qbhand_index_proximal_link"/>
    <child link="right_qbhand_index_middle_virtual_link"/>
    <axis xyz="0 0 -1"/>
    <dynamics damping="0.0" friction="0.0"/>
    <limit effort="100" lower="0.0" upper="0.785" velocity="100"/>
    <mimic joint="right_qbhand_synergy_joint" multiplier="0.785"/>
  </joint>
  <link name="right_qbhand_index_middle_virtual_link">
    <inertial>
      <origin rpy="0 0 0" xyz="0 0 0"/>
      <mass value="1e-4"/>
      <inertia ixx="1e-9" ixy="0.0" ixz="0.0" iyy="1e-9" iyz="0.0" izz="1e-9"/>
    </inertial>
  </link>
  <joint name="right_qbhand_index_middle_virtual_joint" type="revolute">
    <origin rpy="0 0 0" xyz="0.013 0 0"/>
    <parent link="right_qbhand_index_middle_virtual_link"/>
    <child link="right_qbhand_index_middle_link"/>
    <axis xyz="0 0 -1"/>
    <dynamics damping="0.0" friction="0.0"/>
    <limit effort="100" lower="0.0" upper="0.785" velocity="100"/>
    <mimic joint="right_qbhand_index_middle_joint" multiplier="1.0"/>
  </joint>
  <link name="right_qbhand_index_middle_link">
    <inertial>
      <mass value="0.0063"/>
      <origin rpy="0 0 0" xyz="4.7601567e-03 -1.3786947e-03 0.0"/>
      <inertia ixx="1.8024201e-07" ixy="5.756798e-09" ixz="0.0" iyy="2.3516266e-07" iyz="0.0" izz="2.691504e-07"/>
    </inertial>
    <visual>
      <origin rpy="0 0 0" xyz="0 0 0"/>
      <geometry>
        <mesh filename="../meshes/qbhand/ph_short_yupzfront1.STL" scale="1 1 1"/>
      </geometry>
      <material name="qbhand/middle"/>
    </visual>
    <collision>
      <origin rpy="0 0 0" xyz="0 0 0"/>
      <geometry>
        <mesh filename="../meshes/qbhand/ph_short_yupzfront1.STL" scale="1 1 1"/>
      </geometry>
    </collision>
  </link>
  <joint name="right_qbhand_index_distal_joint" type="revolute">
    <origin rpy="0 0 0" xyz="0.009 0 0"/>
    <parent link="right_qbhand_index_middle_link"/>
    <child link="right_qbhand_index_distal_virtual_link"/>
    <axis xyz="0 0 -1"/>
    <dynamics damping="0.0" friction="0.0"/>
    <limit effort="100" lower="0.0" upper="0.785" velocity="100"/>
    <mimic joint="right_qbhand_synergy_joint" multiplier="0.785"/>
  </joint>
  <link name="right_qbhand_index_distal_virtual_link">
    <inertial>
      <origin rpy="0 0 0" xyz="0 0 0"/>
      <mass value="1e-4"/>
      <inertia ixx="1e-9" ixy="0.0" ixz="0.0" iyy="1e-9" iyz="0.0" izz="1e-9"/>
    </inertial>
  </link>
  <joint name="right_qbhand_index_distal_virtual_joint" type="revolute">
    <origin rpy="0 0 0" xyz="0.013 0 0"/>
    <parent link="right_qbhand_index_distal_virtual_link"/>
    <child link="right_qbhand_index_distal_link"/>
    <axis xyz="0 0 -1"/>
    <dynamics damping="0.0" friction="0.0"/>
    <limit effort="100" lower="0.0" upper="0.785" velocity="100"/>
    <mimic joint="right_qbhand_index_distal_joint" multiplier="1.0"/>
  </joint>
  <link name="right_qbhand_index_distal_link">
    <inertial>
      <mass value="0.009"/>
      <origin rpy="0 0 0" xyz="8.8025467e-03 -1.7219289e-03 0.0"/>
      <inertia ixx="2.6586142e-07" ixy="1.2416847e-08" ixz="0.0" iyy="5.9935767e-07" iyz="0.0" izz="6.6781963e-07"/>
    </inertial>
    <visual>
      <origin rpy="0 0 0" xyz="0 0 0"/>
      <geometry>
        <mesh filename="../meshes/qbhand/ph_distal_yupzfront1.STL" scale="1 1 1"/>
      </geometry>
      <material name="qbhand/distal"/>
    </visual>
    <collision>
      <origin rpy="0 0 0" xyz="0 0 0"/>
      <geometry>
        <mesh filename="../meshes/qbhand/ph_distal_yupzfront1.STL" scale="1 1 1"/>
      </geometry>
    </collision>
  </link>
  <joint name="right_qbhand_middle_knuckle_joint" type="revolute">
    <origin rpy="0 0 1.57" xyz="0 0 0.014"/>
    <parent link="right_qbhand_palm_link"/>
    <child link="right_qbhand_middle_knuckle_link"/>
    <axis xyz="0 0 -1"/>
    <dynamics damping="0.0" friction="0.0"/>
    <limit effort="100" lower="-0.524" upper="0.524" velocity="100"/>
    <mimic joint="right_qbhand_synergy_joint" multiplier="0.0"/>
  </joint>
  <link name="right_qbhand_middle_knuckle_link">
    <inertial>
      <mass value="0.0095"/>
      <origin rpy="0 0 0" xyz="4.2753603e-04  0.0 -1.4321738e-03"/>
      <inertia ixx="6.4337303e-07" ixy="0.0" ixz="-3.9373913e-08" iyy="1.1253771e-06" iyz="0.0" izz="7.2336948e-07"/>
    </inertial>
    <visual>
      <origin rpy="0 0 0" xyz="0 0 0"/>
      <geometry>
        <mesh filename="../meshes/qbhand/ph_knuckle_yupzfront1.STL" scale="1 1 1"/>
      </geometry>
      <material name="qbhand/knuckle"/>
    </visual>
    <collision>
      <origin rpy="0 0 0" xyz="0 0 0"/>
      <geometry>
        <mesh filename="../meshes/qbhand/ph_knuckle_yupzfront1.STL" scale="1 1 1"/>
      </geometry>
    </collision>
  </link>
  <joint name="right_qbhand_middle_proximal_joint" type="revolute">
    <origin rpy="1.57 0 0" xyz="0.009 0 0"/>
    <parent link="right_qbhand_middle_knuckle_link"/>
    <child link="right_qbhand_middle_proximal_virtual_link"/>
    <axis xyz="0 0 -1"/>
    <dynamics damping="0.0" friction="0.0"/>
    <limit effort="100" lower="0.0" upper="0.785" velocity="100"/>
    <mimic joint="right_qbhand_synergy_joint" multiplier="0.785"/>
  </joint>
  <link name="right_qbhand_middle_proximal_virtual_link">
    <inertial>
      <origin rpy="0 0 0" xyz="0 0 0"/>
      <mass value="1e-4"/>
      <inertia ixx="1e-9" ixy="0.0" ixz="0.0" iyy="1e-9" iyz="0.0" izz="1e-9"/>
    </inertial>
  </link>
  <joint name="right_qbhand_middle_proximal_virtual_joint" type="revolute">
    <origin rpy="0 0 0" xyz="0.013 0 0"/>
    <parent link="right_qbhand_middle_proximal_virtual_link"/>
    <child link="right_qbhand_middle_proximal_link"/>
    <axis xyz="0 0 -1"/>
    <dynamics damping="0.0" friction="0.0"/>
    <limit effort="100" lower="0.0" upper="0.785" velocity="100"/>
    <mimic joint="right_qbhand_middle_proximal_joint" multiplier="1.0"/>
  </joint>
  <link name="right_qbhand_middle_proximal_link">
    <inertial>
      <mass value="0.0082"/>
      <origin rpy="0 0 0" xyz="8.7707437e-03 -1.7863138e-03 0.0"/>
      <inertia ixx="2.2722068e-07" ixy="1.1586053e-08" ixz="0.0" iyy="5.5947233e-07" iyz="0.0" izz="5.9562195e-07"/>
    </inertial>
    <visual>
      <origin rpy="0 0 0" xyz="0 0 0"/>
      <geometry>
        <mesh filename="../meshes/qbhand/ph_medium_yupzfront1.STL" scale="1 1 1"/>
      </geometry>
      <material name="qbhand/proximal"/>
    </visual>
    <collision>
      <origin rpy="0 0 0" xyz="0 0 0"/>
      <geometry>
        <mesh filename="../meshes/qbhand/ph_medium_yupzfront1.STL" scale="1 1 1"/>
      </geometry>
    </collision>
  </link>
  <joint name="right_qbhand_middle_middle_joint" type="revolute">
    <origin rpy="0 0 0" xyz="0.017 0 0"/>
    <parent link="right_qbhand_middle_proximal_link"/>
    <child link="right_qbhand_middle_middle_virtual_link"/>
    <axis xyz="0 0 -1"/>
    <dynamics damping="0.0" friction="0.0"/>
    <limit effort="100" lower="0.0" upper="0.785" velocity="100"/>
    <mimic joint="right_qbhand_synergy_joint" multiplier="0.785"/>
  </joint>
  <link name="right_qbhand_middle_middle_virtual_link">
    <inertial>
      <origin rpy="0 0 0" xyz="0 0 0"/>
      <mass value="1e-4"/>
      <inertia ixx="1e-9" ixy="0.0" ixz="0.0" iyy="1e-9" iyz="0.0" izz="1e-9"/>
    </inertial>
  </link>
  <joint name="right_qbhand_middle_middle_virtual_joint" type="revolute">
    <origin rpy="0 0 0" xyz="0.013 0 0"/>
    <parent link="right_qbhand_middle_middle_virtual_link"/>
    <child link="right_qbhand_middle_middle_link"/>
    <axis xyz="0 0 -1"/>
    <dynamics damping="0.0" friction="0.0"/>
    <limit effort="100" lower="0.0" upper="0.785" velocity="100"/>
    <mimic joint="right_qbhand_middle_middle_joint" multiplier="1.0"/>
  </joint>
  <link name="right_qbhand_middle_middle_link">
    <inertial>
      <mass value="0.0063"/>
      <origin rpy="0 0 0" xyz="4.7601567e-03 -1.3786947e-03 0.0"/>
      <inertia ixx="1.8024201e-07" ixy="5.756798e-09" ixz="0.0" iyy="2.3516266e-07" iyz="0.0" izz="2.691504e-07"/>
    </inertial>
    <visual>
      <origin rpy="0 0 0" xyz="0 0 0"/>
      <geometry>
        <mesh filename="../meshes/qbhand/ph_short_yupzfront1.STL" scale="1 1 1"/>
      </geometry>
      <material name="qbhand/middle"/>
    </visual>
    <collision>
      <origin rpy="0 0 0" xyz="0 0 0"/>
      <geometry>
        <mesh filename="../meshes/qbhand/ph_short_yupzfront1.STL" scale="1 1 1"/>
      </geometry>
    </collision>
  </link>
  <joint name="right_qbhand_middle_distal_joint" type="revolute">
    <origin rpy="0 0 0" xyz="0.009 0 0"/>
    <parent link="right_qbhand_middle_middle_link"/>
    <child link="right_qbhand_middle_distal_virtual_link"/>
    <axis xyz="0 0 -1"/>
    <dynamics damping="0.0" friction="0.0"/>
    <limit effort="100" lower="0.0" upper="0.785" velocity="100"/>
    <mimic joint="right_qbhand_synergy_joint" multiplier="0.785"/>
  </joint>
  <link name="right_qbhand_middle_distal_virtual_link">
    <inertial>
      <origin rpy="0 0 0" xyz="0 0 0"/>
      <mass value="1e-4"/>
      <inertia ixx="1e-9" ixy="0.0" ixz="0.0" iyy="1e-9" iyz="0.0" izz="1e-9"/>
    </inertial>
  </link>
  <joint name="right_qbhand_middle_distal_virtual_joint" type="revolute">
    <origin rpy="0 0 0" xyz="0.013 0 0"/>
    <parent link="right_qbhand_middle_distal_virtual_link"/>
    <child link="right_qbhand_middle_distal_link"/>
    <axis xyz="0 0 -1"/>
    <dynamics damping="0.0" friction="0.0"/>
    <limit effort="100" lower="0.0" upper="0.785" velocity="100"/>
    <mimic joint="right_qbhand_middle_distal_joint" multiplier="1.0"/>
  </joint>
  <link name="right_qbhand_middle_distal_link">
    <inertial>
      <mass value="0.009"/>
      <origin rpy="0 0 0" xyz="8.8025467e-03 -1.7219289e-03 0.0"/>
      <inertia ixx="2.6586142e-07" ixy="1.2416847e-08" ixz="0.0" iyy="5.9935767e-07" iyz="0.0" izz="6.6781963e-07"/>
    </inertial>
    <visual>
      <origin rpy="0 0 0" xyz="0 0 0"/>
      <geometry>
        <mesh filename="../meshes/qbhand/ph_distal_yupzfront1.STL" scale="1 1 1"/>
      </geometry>
      <material name="qbhand/distal"/>
    </visual>
    <collision>
      <origin rpy="0 0 0" xyz="0 0 0"/>
      <geometry>
        <mesh filename="../meshes/qbhand/ph_distal_yupzfront1.STL" scale="1 1 1"/>
      </geometry>
    </collision>
  </link>
  <joint name="right_qbhand_ring_knuckle_joint" type="revolute">
    <origin rpy="0 0 1.57" xyz="0.02 -0.007 0.014"/>
    <parent link="right_qbhand_palm_link"/>
    <child link="right_qbhand_ring_knuckle_link"/>
    <axis xyz="0 0 -1"/>
    <dynamics damping="0.0" friction="0.0"/>
    <limit effort="100" lower="-0.524" upper="0.524" velocity="100"/>
    <mimic joint="right_qbhand_synergy_joint" multiplier="0.2"/>
  </joint>
  <link name="right_qbhand_ring_knuckle_link">
    <inertial>
      <mass value="0.0095"/>
      <origin rpy="0 0 0" xyz="4.2753603e-04  0.0 -1.4321738e-03"/>
      <inertia ixx="6.4337303e-07" ixy="0.0" ixz="-3.9373913e-08" iyy="1.1253771e-06" iyz="0.0" izz="7.2336948e-07"/>
    </inertial>
    <visual>
      <origin rpy="0 0 0" xyz="0 0 0"/>
      <geometry>
        <mesh filename="../meshes/qbhand/ph_knuckle_yupzfront1.STL" scale="1 1 1"/>
      </geometry>
      <material name="qbhand/knuckle"/>
    </visual>
    <collision>
      <origin rpy="0 0 0" xyz="0 0 0"/>
      <geometry>
        <mesh filename="../meshes/qbhand/ph_knuckle_yupzfront1.STL" scale="1 1 1"/>
      </geometry>
    </collision>
  </link>
  <joint name="right_qbhand_ring_proximal_joint" type="revolute">
    <origin rpy="1.57 0 0" xyz="0.009 0 0"/>
    <parent link="right_qbhand_ring_knuckle_link"/>
    <child link="right_qbhand_ring_proximal_virtual_link"/>
    <axis xyz="0 0 -1"/>
    <dynamics damping="0.0" friction="0.0"/>
    <limit effort="100" lower="0.0" upper="0.785" velocity="100"/>
    <mimic joint="right_qbhand_synergy_joint" multiplier="0.785"/>
  </joint>
  <link name="right_qbhand_ring_proximal_virtual_link">
    <inertial>
      <origin rpy="0 0 0" xyz="0 0 0"/>
      <mass value="1e-4"/>
      <inertia ixx="1e-9" ixy="0.0" ixz="0.0" iyy="1e-9" iyz="0.0" izz="1e-9"/>
    </inertial>
  </link>
  <joint name="right_qbhand_ring_proximal_virtual_joint" type="revolute">
    <origin rpy="0 0 0" xyz="0.013 0 0"/>
    <parent link="right_qbhand_ring_proximal_virtual_link"/>
    <child link="right_qbhand_ring_proximal_link"/>
    <axis xyz="0 0 -1"/>
    <dynamics damping="0.0" friction="0.0"/>
    <limit effort="100" lower="0.0" upper="0.785" velocity="100"/>
    <mimic joint="right_qbhand_ring_proximal_joint" multiplier="1.0"/>
  </joint>
  <link name="right_qbhand_ring_proximal_link">
    <inertial>
      <mass value="0.0082"/>
      <origin rpy="0 0 0" xyz="8.7707437e-03 -1.7863138e-03 0.0"/>
      <inertia ixx="2.2722068e-07" ixy="1.1586053e-08" ixz="0.0" iyy="5.5947233e-07" iyz="0.0" izz="5.9562195e-07"/>
    </inertial>
    <visual>
      <origin rpy="0 0 0" xyz="0 0 0"/>
      <geometry>
        <mesh filename="../meshes/qbhand/ph_medium_yupzfront1.STL" scale="1 1 1"/>
      </geometry>
      <material name="qbhand/proximal"/>
    </visual>
    <collision>
      <origin rpy="0 0 0" xyz="0 0 0"/>
      <geometry>
        <mesh filename="../meshes/qbhand/ph_medium_yupzfront1.STL" scale="1 1 1"/>
      </geometry>
    </collision>
  </link>
  <joint name="right_qbhand_ring_middle_joint" type="revolute">
    <origin rpy="0 0 0" xyz="0.017 0 0"/>
    <parent link="right_qbhand_ring_proximal_link"/>
    <child link="right_qbhand_ring_middle_virtual_link"/>
    <axis xyz="0 0 -1"/>
    <dynamics damping="0.0" friction="0.0"/>
    <limit effort="100" lower="0.0" upper="0.785" velocity="100"/>
    <mimic joint="right_qbhand_synergy_joint" multiplier="0.785"/>
  </joint>
  <link name="right_qbhand_ring_middle_virtual_link">
    <inertial>
      <origin rpy="0 0 0" xyz="0 0 0"/>
      <mass value="1e-4"/>
      <inertia ixx="1e-9" ixy="0.0" ixz="0.0" iyy="1e-9" iyz="0.0" izz="1e-9"/>
    </inertial>
  </link>
  <joint name="right_qbhand_ring_middle_virtual_joint" type="revolute">
    <origin rpy="0 0 0" xyz="0.013 0 0"/>
    <parent link="right_qbhand_ring_middle_virtual_link"/>
    <child link="right_qbhand_ring_middle_link"/>
    <axis xyz="0 0 -1"/>
    <dynamics damping="0.0" friction="0.0"/>
    <limit effort="100" lower="0.0" upper="0.785" velocity="100"/>
    <mimic joint="right_qbhand_ring_middle_joint" multiplier="1.0"/>
  </joint>
  <link name="right_qbhand_ring_middle_link">
    <inertial>
      <mass value="0.0063"/>
      <origin rpy="0 0 0" xyz="4.7601567e-03 -1.3786947e-03 0.0"/>
      <inertia ixx="1.8024201e-07" ixy="5.756798e-09" ixz="0.0" iyy="2.3516266e-07" iyz="0.0" izz="2.691504e-07"/>
    </inertial>
    <visual>
      <origin rpy="0 0 0" xyz="0 0 0"/>
      <geometry>
        <mesh filename="../meshes/qbhand/ph_short_yupzfront1.STL" scale="1 1 1"/>
      </geometry>
      <material name="qbhand/middle"/>
    </visual>
    <collision>
      <origin rpy="0 0 0" xyz="0 0 0"/>
      <geometry>
        <mesh filename="../meshes/qbhand/ph_short_yupzfront1.STL" scale="1 1 1"/>
      </geometry>
    </collision>
  </link>
  <joint name="right_qbhand_ring_distal_joint" type="revolute">
    <origin rpy="0 0 0" xyz="0.009 0 0"/>
    <parent link="right_qbhand_ring_middle_link"/>
    <child link="right_qbhand_ring_distal_virtual_link"/>
    <axis xyz="0 0 -1"/>
    <dynamics damping="0.0" friction="0.0"/>
    <limit effort="100" lower="0.0" upper="0.785" velocity="100"/>
    <mimic joint="right_qbhand_synergy_joint" multiplier="0.785"/>
  </joint>
  <link name="right_qbhand_ring_distal_virtual_link">
    <inertial>
      <origin rpy="0 0 0" xyz="0 0 0"/>
      <mass value="1e-4"/>
      <inertia ixx="1e-9" ixy="0.0" ixz="0.0" iyy="1e-9" iyz="0.0" izz="1e-9"/>
    </inertial>
  </link>
  <joint name="right_qbhand_ring_distal_virtual_joint" type="revolute">
    <origin rpy="0 0 0" xyz="0.013 0 0"/>
    <parent link="right_qbhand_ring_distal_virtual_link"/>
    <child link="right_qbhand_ring_distal_link"/>
    <axis xyz="0 0 -1"/>
    <dynamics damping="0.0" friction="0.0"/>
    <limit effort="100" lower="0.0" upper="0.785" velocity="100"/>
    <mimic joint="right_qbhand_ring_distal_joint" multiplier="1.0"/>
  </joint>
  <link name="right_qbhand_ring_distal_link">
    <inertial>
      <mass value="0.009"/>
      <origin rpy="0 0 0" xyz="8.8025467e-03 -1.7219289e-03 0.0"/>
      <inertia ixx="2.6586142e-07" ixy="1.2416847e-08" ixz="0.0" iyy="5.9935767e-07" iyz="0.0" izz="6.6781963e-07"/>
    </inertial>
    <visual>
      <origin rpy="0 0 0" xyz="0 0 0"/>
      <geometry>
        <mesh filename="../meshes/qbhand/ph_distal_yupzfront1.STL" scale="1 1 1"/>
      </geometry>
      <material name="qbhand/distal"/>
    </visual>
    <collision>
      <origin rpy="0 0 0" xyz="0 0 0"/>
      <geometry>
        <mesh filename="../meshes/qbhand/ph_distal_yupzfront1.STL" scale="1 1 1"/>
      </geometry>
    </collision>
  </link>
  <joint name="right_qbhand_little_knuckle_joint" type="revolute">
    <origin rpy="0 0 1.57" xyz="0.04 -0.012 0.014"/>
    <parent link="right_qbhand_palm_link"/>
    <child link="right_qbhand_little_knuckle_link"/>
    <axis xyz="0 0 -1"/>
    <dynamics damping="0.0" friction="0.0"/>
    <limit effort="100" lower="-0.524" upper="0.524" velocity="100"/>
    <mimic joint="right_qbhand_synergy_joint" multiplier="0.4"/>
  </joint>
  <link name="right_qbhand_little_knuckle_link">
    <inertial>
      <mass value="0.0095"/>
      <origin rpy="0 0 0" xyz="4.2753603e-04  0.0 -1.4321738e-03"/>
      <inertia ixx="6.4337303e-07" ixy="0.0" ixz="-3.9373913e-08" iyy="1.1253771e-06" iyz="0.0" izz="7.2336948e-07"/>
    </inertial>
    <visual>
      <origin rpy="0 0 0" xyz="0 0 0"/>
      <geometry>
        <mesh filename="../meshes/qbhand/ph_knuckle_yupzfront1.STL" scale="1 1 1"/>
      </geometry>
      <material name="qbhand/knuckle"/>
    </visual>
    <collision>
      <origin rpy="0 0 0" xyz="0 0 0"/>
      <geometry>
        <mesh filename="../meshes/qbhand/ph_knuckle_yupzfront1.STL" scale="1 1 1"/>
      </geometry>
    </collision>
  </link>
  <joint name="right_qbhand_little_proximal_joint" type="revolute">
    <origin rpy="1.57 0 0" xyz="0.009 0 0"/>
    <parent link="right_qbhand_little_knuckle_link"/>
    <child link="right_qbhand_little_proximal_virtual_link"/>
    <axis xyz="0 0 -1"/>
    <dynamics damping="0.0" friction="0.0"/>
    <limit effort="100" lower="0.0" upper="0.785" velocity="100"/>
    <mimic joint="right_qbhand_synergy_joint" multiplier="0.785"/>
  </joint>
  <link name="right_qbhand_little_proximal_virtual_link">
    <inertial>
      <origin rpy="0 0 0" xyz="0 0 0"/>
      <mass value="1e-4"/>
      <inertia ixx="1e-9" ixy="0.0" ixz="0.0" iyy="1e-9" iyz="0.0" izz="1e-9"/>
    </inertial>
  </link>
  <joint name="right_qbhand_little_proximal_virtual_joint" type="revolute">
    <origin rpy="0 0 0" xyz="0.013 0 0"/>
    <parent link="right_qbhand_little_proximal_virtual_link"/>
    <child link="right_qbhand_little_proximal_link"/>
    <axis xyz="0 0 -1"/>
    <dynamics damping="0.0" friction="0.0"/>
    <limit effort="100" lower="0.0" upper="0.785" velocity="100"/>
    <mimic joint="right_qbhand_little_proximal_joint" multiplier="1.0"/>
  </joint>
  <link name="right_qbhand_little_proximal_link">
    <inertial>
      <mass value="0.0063"/>
      <origin rpy="0 0 0" xyz="4.7601567e-03 -1.3786947e-03 0.0"/>
      <inertia ixx="1.8024201e-07" ixy="5.756798e-09" ixz="0.0" iyy="2.3516266e-07" iyz="0.0" izz="2.691504e-07"/>
    </inertial>
    <visual>
      <origin rpy="0 0 0" xyz="0 0 0"/>
      <geometry>
        <mesh filename="../meshes/qbhand/ph_short_yupzfront1.STL" scale="1 1 1"/>
      </geometry>
      <material name="qbhand/proximal"/>
    </visual>
    <collision>
      <origin rpy="0 0 0" xyz="0 0 0"/>
      <geometry>
        <mesh filename="../meshes/qbhand/ph_short_yupzfront1.STL" scale="1 1 1"/>
      </geometry>
    </collision>
  </link>
  <joint name="right_qbhand_little_middle_joint" type="revolute">
    <origin rpy="0 0 0" xyz="0.009 0 0"/>
    <parent link="right_qbhand_little_proximal_link"/>
    <child link="right_qbhand_little_middle_virtual_link"/>
    <axis xyz="0 0 -1"/>
    <dynamics damping="0.0" friction="0.0"/>
    <limit effort="100" lower="0.0" upper="0.785" velocity="100"/>
    <mimic joint="right_qbhand_synergy_joint" multiplier="0.785"/>
  </joint>
  <link name="right_qbhand_little_middle_virtual_link">
    <inertial>
      <origin rpy="0 0 0" xyz="0 0 0"/>
      <mass value="1e-4"/>
      <inertia ixx="1e-9" ixy="0.0" ixz="0.0" iyy="1e-9" iyz="0.0" izz="1e-9"/>
    </inertial>
  </link>
  <joint name="right_qbhand_little_middle_virtual_joint" type="revolute">
    <origin rpy="0 0 0" xyz="0.013 0 0"/>
    <parent link="right_qbhand_little_middle_virtual_link"/>
    <child link="right_qbhand_little_middle_link"/>
    <axis xyz="0 0 -1"/>
    <dynamics damping="0.0" friction="0.0"/>
    <limit effort="100" lower="0.0" upper="0.785" velocity="100"/>
    <mimic joint="right_qbhand_little_middle_joint" multiplier="1.0"/>
  </joint>
  <link name="right_qbhand_little_middle_link">
    <inertial>
      <mass value="0.0063"/>
      <origin rpy="0 0 0" xyz="4.7601567e-03 -1.3786947e-03 0.0"/>
      <inertia ixx="1.8024201e-07" ixy="5.756798e-09" ixz="0.0" iyy="2.3516266e-07" iyz="0.0" izz="2.691504e-07"/>
    </inertial>
    <visual>
      <origin rpy="0 0 0" xyz="0 0 0"/>
      <geometry>
        <mesh filename="../meshes/qbhand/ph_short_yupzfront1.STL" scale="1 1 1"/>
      </geometry>
      <material name="qbhand/middle"/>
    </visual>
    <collision>
      <origin rpy="0 0 0" xyz="0 0 0"/>
      <geometry>
        <mesh filename="../meshes/qbhand/ph_short_yupzfront1.STL" scale="1 1 1"/>
      </geometry>
    </collision>
  </link>
  <joint name="right_qbhand_little_distal_joint" type="revolute">
    <origin rpy="0 0 0" xyz="0.009 0 0"/>
    <parent link="right_qbhand_little_middle_link"/>
    <child link="right_qbhand_little_distal_virtual_link"/>
    <axis xyz="0 0 -1"/>
    <dynamics damping="0.0" friction="0.0"/>
    <limit effort="100" lower="0.0" upper="0.785" velocity="100"/>
    <mimic joint="right_qbhand_synergy_joint" multiplier="0.785"/>
  </joint>
  <link name="right_qbhand_little_distal_virtual_link">
    <inertial>
      <origin rpy="0 0 0" xyz="0 0 0"/>
      <mass value="1e-4"/>
      <inertia ixx="1e-9" ixy="0.0" ixz="0.0" iyy="1e-9" iyz="0.0" izz="1e-9"/>
    </inertial>
  </link>
  <joint name="right_qbhand_little_distal_virtual_joint" type="revolute">
    <origin rpy="0 0 0" xyz="0.013 0 0"/>
    <parent link="right_qbhand_little_distal_virtual_link"/>
    <child link="right_qbhand_little_distal_link"/>
    <axis xyz="0 0 -1"/>
    <dynamics damping="0.0" friction="0.0"/>
    <limit effort="100" lower="0.0" upper="0.785" velocity="100"/>
    <mimic joint="right_qbhand_little_distal_joint" multiplier="1.0"/>
  </joint>
  <link name="right_qbhand_little_distal_link">
    <inertial>
      <mass value="0.009"/>
      <origin rpy="0 0 0" xyz="8.8025467e-03 -1.7219289e-03 0.0"/>
      <inertia ixx="2.6586142e-07" ixy="1.2416847e-08" ixz="0.0" iyy="5.9935767e-07" iyz="0.0" izz="6.6781963e-07"/>
    </inertial>
    <visual>
      <origin rpy="0 0 0" xyz="0 0 0"/>
      <geometry>
        <mesh filename="../meshes/qbhand/ph_distal_yupzfront1.STL" scale="1 1 1"/>
      </geometry>
      <material name="qbhand/distal"/>
    </visual>
    <collision>
      <origin rpy="0 0 0" xyz="0 0 0"/>
      <geometry>
        <mesh filename="../meshes/qbhand/ph_distal_yupzfront1.STL" scale="1 1 1"/>
      </geometry>
    </collision>
  </link>
  <joint name="right_qbhand_end_effector_fixed_joint" type="fixed">
    <origin rpy="-1.57 0 0" xyz="-0.03 0.060 0.142"/>
    <parent link="right_qbhand_base_link"/>
    <child link="right_qbhand_end_effector_link"/>
  </joint>
  <link name="right_qbhand_end_effector_link"/>
</robot>
